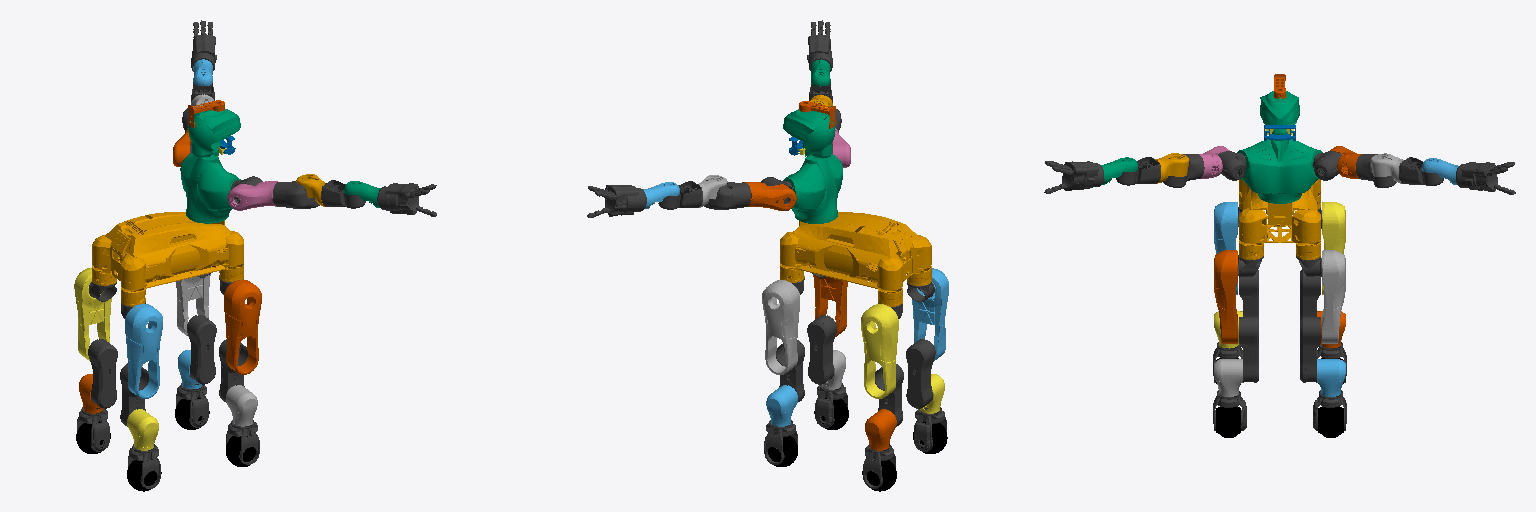
--- Render facts (derived) ---
3 views of the same robot in one strip: view 1: azimuth 30°, elevation 25°; view 2: azimuth 150°, elevation 25°; view 3: azimuth 270°, elevation 25° (orthographic).
Robot: centauro — 54 links, 53 joints (39 revolute, 5 continuous, 9 fixed); root link pelvis; default pose: joints at zero except 2 at the middle of their limits (j_arm1_2 = -1.74, j_arm2_2 = 1.74).
Links seen in each view (by area): view 1: pelvis, torso_2, hip2_4, hip2_2, hip2_3, knee_3, knee_1, hip2_1, arm2_8, arm2_2, ankle1_4, ankle1_2 (+12 smaller); view 2: pelvis, torso_2, hip2_3, hip2_1, hip2_4, knee_4, knee_2, hip2_2, arm1_8, arm1_2, ankle1_1, ankle1_3 (+12 smaller); view 3: torso_2, pelvis, hip2_2, hip2_1, knee_1, knee_2, hip2_4, hip2_3, arm1_8, arm2_8, ankle1_2, ankle1_1 (+18 smaller).
Link boxes in pixels (x1,y1,x2,y2): pelvis: (92, 212, 243, 306); torso_2: (180, 109, 240, 223); hip2_4: (125, 304, 162, 398); hip2_2: (224, 280, 261, 374); hip2_3: (74, 268, 111, 360); knee_3: (88, 339, 117, 408); knee_1: (187, 315, 216, 384); hip2_1: (176, 274, 210, 336); arm2_8: (385, 183, 436, 216); arm2_2: (227, 181, 277, 210); ankle1_4: (127, 409, 158, 450); ankle1_2: (226, 385, 257, 426); pelvis: (780, 212, 931, 306); torso_2: (783, 109, 842, 223); hip2_3: (861, 304, 898, 398); hip2_1: (762, 280, 799, 374); hip2_4: (912, 268, 948, 360); knee_4: (906, 339, 935, 408); knee_2: (807, 315, 836, 384); hip2_2: (813, 275, 847, 336); arm1_8: (587, 185, 638, 217); arm1_2: (745, 182, 796, 210); ankle1_1: (766, 385, 797, 426); ankle1_3: (865, 409, 896, 450); torso_2: (1237, 91, 1322, 203); pelvis: (1239, 179, 1320, 259); hip2_2: (1214, 250, 1237, 343); hip2_1: (1322, 250, 1345, 343); knee_1: (1300, 317, 1320, 382); knee_2: (1239, 317, 1258, 382); hip2_4: (1214, 202, 1237, 294); hip2_3: (1322, 202, 1345, 294); arm1_8: (1461, 162, 1515, 194); arm2_8: (1044, 161, 1098, 193); ankle1_2: (1214, 359, 1242, 396); ankle1_1: (1317, 359, 1345, 396).
Size in the robot's own frame: 1.12 by 2.05 by 1.68 metres.
Meshes: 19 distinct files referenced, 45 mesh visuals loaded (19 binary STL).

robot.urdf — centauro:
<?xml version="1.0" ?>
<!-- =================================================================================== -->
<!-- |    This document was autogenerated by xacro from centauro.urdf.xacro            | -->
<!-- |    EDITING THIS FILE BY HAND IS NOT RECOMMENDED                                 | -->
<!-- =================================================================================== -->
<robot name="centauro" xmlns:xacro="http://www.ros.org/wiki/xacro">
  <!-- /constants -->
  <!-- Here all arguments from launch file are evaluated to the final xacro poropeties.
     Also all the parameter dependencies are resolved-->
  <!-- Here all arguments from launch file are evaluated to the final xacro poropeties.
     Also all the parameter dependencies are resolved-->
  <!-- Here all arguments from launch file are evaluated to the final xacro poropeties.
     Also all the parameter dependencies are resolved-->
  <!-- Here all arguments from launch file are evaluated to the final xacro poropeties.
     Also all the parameter dependencies are resolved-->
  <gazebo reference="j_ft_1">
    <sensor name="left_arm_ft" type="force_torque">
      <force_torque>
        <frame>parent</frame>
        <measure_direction>child_to_parent</measure_direction>
      </force_torque>
      <always_on>true</always_on>
      <visualize>true</visualize>
      <update_rate>1000</update_rate>
      <pose>0 0 0 0 0 0</pose>
    </sensor>
  </gazebo>
  <gazebo reference="j_ft_2">
    <sensor name="right_arm_ft" type="force_torque">
      <force_torque>
        <frame>parent</frame>
        <measure_direction>child_to_parent</measure_direction>
      </force_torque>
      <always_on>true</always_on>
      <visualize>true</visualize>
      <update_rate>1000</update_rate>
      <pose>0 0 0 0 0 0</pose>
    </sensor>
  </gazebo>
  <gazebo reference="j_wheel_1">
    <sensor name="fl_foot_ft" type="force_torque">
      <force_torque>
        <frame>parent</frame>
        <measure_direction>child_to_parent</measure_direction>
      </force_torque>
      <always_on>true</always_on>
      <visualize>true</visualize>
      <update_rate>1000</update_rate>
      <pose>0 0 0 0 0 0</pose>
    </sensor>
  </gazebo>
  <gazebo reference="j_wheel_2">
    <sensor name="fr_foot_ft" type="force_torque">
      <force_torque>
        <frame>parent</frame>
        <measure_direction>child_to_parent</measure_direction>
      </force_torque>
      <always_on>true</always_on>
      <visualize>true</visualize>
      <update_rate>1000</update_rate>
      <pose>0 0 0 0 0 0</pose>
    </sensor>
  </gazebo>
  <gazebo reference="j_wheel_4">
    <sensor name="hr_foot_ft" type="force_torque">
      <force_torque>
        <frame>parent</frame>
        <measure_direction>child_to_parent</measure_direction>
      </force_torque>
      <always_on>true</always_on>
      <visualize>true</visualize>
      <update_rate>1000</update_rate>
      <pose>0 0 0 0 0 0</pose>
    </sensor>
  </gazebo>
  <gazebo reference="j_wheel_3">
    <sensor name="hl_foot_ft" type="force_torque">
      <force_torque>
        <frame>parent</frame>
        <measure_direction>child_to_parent</measure_direction>
      </force_torque>
      <always_on>true</always_on>
      <visualize>true</visualize>
      <update_rate>1000</update_rate>
      <pose>0 0 0 0 0 0</pose>
    </sensor>
  </gazebo>
  <gazebo reference="wheel_1">
    <sensor name="wheel_1_contact_sensor_1" type="contact">
      <always_on>true</always_on>
      <update_rate>1000.0</update_rate>
      <contact>
        <collision>wheel_1_collision_1</collision>
      </contact>
      <plugin filename="libgazebo_ros_bumper.so" name="wheel_1_bumper">
        <bumperTopicName>centauro/contacts_wheel_1</bumperTopicName>
        <frameName>wheel_1</frameName>
      </plugin>
    </sensor>
  </gazebo>
  <gazebo reference="wheel_2">
    <sensor name="wheel_2_contact_sensor_1" type="contact">
      <always_on>true</always_on>
      <update_rate>1000.0</update_rate>
      <contact>
        <collision>wheel_2_collision_1</collision>
      </contact>
      <plugin filename="libgazebo_ros_bumper.so" name="wheel_2_bumper">
        <bumperTopicName>centauro/contacts_wheel_2</bumperTopicName>
        <frameName>wheel_2</frameName>
      </plugin>
    </sensor>
  </gazebo>
  <gazebo reference="wheel_3">
    <sensor name="wheel_3_contact_sensor_1" type="contact">
      <always_on>true</always_on>
      <update_rate>1000.0</update_rate>
      <contact>
        <collision>wheel_3_collision_1</collision>
      </contact>
      <plugin filename="libgazebo_ros_bumper.so" name="wheel_3_bumper">
        <bumperTopicName>centauro/contacts_wheel_3</bumperTopicName>
        <frameName>wheel_3</frameName>
      </plugin>
    </sensor>
  </gazebo>
  <gazebo reference="wheel_4">
    <sensor name="wheel_4_contact_sensor_1" type="contact">
      <always_on>true</always_on>
      <update_rate>1000.0</update_rate>
      <contact>
        <collision>wheel_4_collision_1</collision>
      </contact>
      <plugin filename="libgazebo_ros_bumper.so" name="wheel_4_bumper">
        <bumperTopicName>centauro/contacts_wheel_4</bumperTopicName>
        <frameName>wheel_4</frameName>
      </plugin>
    </sensor>
  </gazebo>
  <!-- Here all arguments from launch file are evaluated to the final xacro poropeties.
     Also all the parameter dependencies are resolved-->
  <gazebo reference="imu_link">
    <sensor name="imu_link" type="imu">
      <always_on>1</always_on>
      <update_rate>500</update_rate>
      <visualize>true</visualize>
      <topic>__default_topic__</topic>
      <imu>
        <!--
                <noise>
                <type>gaussian</type>
                <rate>
                    <mean>0.0</mean>
                    <stddev>2e-4</stddev>
                    <bias_mean>0.0000075</bias_mean>
                    <bias_stddev>0.0000008</bias_stddev>
                </rate>
                <accel>
                    <mean>0.0</mean>
                    <stddev>1.7e-2</stddev>
                    <bias_mean>0.1</bias_mean>
                    <bias_stddev>0.001</bias_stddev>
                </accel>
                </noise>
                -->
      </imu>
    </sensor>
  </gazebo>
  <gazebo>
    <plugin filename="libGazeboXBotPlugin.so" name="gazebo_xbot_plugin">
      <path_to_config_file>configs/ADVR_shared/centauro/configs/config_centauro.yaml</path_to_config_file>
      <!--                <path_to_config_file>configs/ADVR_shared/centauro/configs/config_centauro.yaml</path_to_config_file> -->
    </plugin>
  </gazebo>
  <!-- /CONTROLLER -->
  <!-- VISUALiZATION AND FRICTION -->
  <gazebo reference="base_link">
    <material>Gazebo/Red</material>
  </gazebo>
  <gazebo reference="pelvis">
    <material>Gazebo/OrangeTransparent</material>
    <mu1>0</mu1>
    <mu2>0</mu2>
  </gazebo>
  <gazebo reference="torso_2">
    <material>Gazebo/OrangeTransparent</material>
    <mu1>0</mu1>
    <mu2>0</mu2>
  </gazebo>
  <gazebo reference="hip1_1">
    <material>Gazebo/Lane_1</material>
    <mu1>0</mu1>
    <mu2>0</mu2>
  </gazebo>
  <gazebo reference="hip1_2">
    <material>Gazebo/Lane_1 </material>
    <mu1>0</mu1>
    <mu2>0</mu2>
  </gazebo>
  <gazebo reference="hip1_3">
    <material>Gazebo/Lane_1</material>
    <mu1>0</mu1>
    <mu2>0</mu2>
  </gazebo>
  <gazebo reference="hip1_4">
    <material>Gazebo/Lane_1</material>
    <mu1>0</mu1>
    <mu2>0</mu2>
  </gazebo>
  <gazebo reference="hip2_1">
    <material>Gazebo/OrangeTransparent </material>
    <mu1>0</mu1>
    <mu2>0</mu2>
  </gazebo>
  <gazebo reference="hip2_2">
    <material>Gazebo/OrangeTransparent</material>
    <mu1>0</mu1>
    <mu2>0</mu2>
  </gazebo>
  <gazebo reference="hip2_3">
    <material>Gazebo/OrangeTransparent </material>
    <mu1>0</mu1>
    <mu2>0</mu2>
  </gazebo>
  <gazebo reference="hip2_4">
    <material>Gazebo/OrangeTransparent </material>
    <mu1>0</mu1>
    <mu2>0</mu2>
  </gazebo>
  <gazebo reference="knee_1">
    <material>Gazebo/Lane_1 </material>
    <mu1>0</mu1>
    <mu2>0</mu2>
  </gazebo>
  <gazebo reference="knee_2">
    <material>Gazebo/Lane_1 </material>
    <mu1>0</mu1>
    <mu2>0</mu2>
  </gazebo>
  <gazebo reference="knee_3">
    <material>Gazebo/Lane_1 </material>
    <mu1>0</mu1>
    <mu2>0</mu2>
  </gazebo>
  <gazebo reference="knee_4">
    <material>Gazebo/Lane_1 </material>
    <mu1>0</mu1>
    <mu2>0</mu2>
  </gazebo>
  <gazebo reference="ankle1_1">
    <material>Gazebo/OrangeTransparent</material>
    <mu1>0</mu1>
    <mu2>0</mu2>
  </gazebo>
  <gazebo reference="ankle1_2">
    <material>Gazebo/OrangeTransparent  </material>
    <mu1>0</mu1>
    <mu2>0</mu2>
  </gazebo>
  <gazebo reference="ankle1_3">
    <material>Gazebo/OrangeTransparent </material>
    <mu1>0</mu1>
    <mu2>0</mu2>
  </gazebo>
  <gazebo reference="ankle1_4">
    <material>Gazebo/OrangeTransparent  </material>
    <mu1>0</mu1>
    <mu2>0</mu2>
  </gazebo>
  <gazebo reference="ankle2_1">
    <material> Gazebo/Lane_1 </material>
    <mu1>0</mu1>
    <mu2>0</mu2>
  </gazebo>
  <gazebo reference="ankle2_2">
    <material>Gazebo/Lane_1 </material>
    <mu1>0</mu1>
    <mu2>0</mu2>
  </gazebo>
  <gazebo reference="ankle2_3">
    <material>Gazebo/Lane_1</material>
    <mu1>0</mu1>
    <mu2>0</mu2>
  </gazebo>
  <gazebo reference="ankle2_4">
    <material>Gazebo/Lane_1</material>
    <mu1>0</mu1>
    <mu2>0</mu2>
  </gazebo>
  <gazebo reference="wheel_1">
    <material>Gazebo/Residential </material>
    <collision>
      <surface>
        <friction>
          <!--                                        <torsional>
                                                <coefficient> 0.5 </coefficient>
                                                <use_patch_radius>true</use_patch_radius>
                                                <patch_radius>0.2</patch_radius>
                                        </torsional>-->
          <ode>
            <mu>0.5</mu>
            <mu2>0.5</mu2>
          </ode>
          <bullet>
            <friction>0.5</friction>
            <friction2>0.5</friction2>
          </bullet>
        </friction>
        <contact>
          <ode>
            <!--<soft_cfm>0.0001</soft_cfm>
                                        <soft_erp>0.25</soft_erp> -->
            <kp>2100000</kp>
            <kd>1</kd>
            <max_vel>100</max_vel>
          </ode>
          <bullet>
            <soft_cfm>0.007</soft_cfm>
            <soft_erp>0.25</soft_erp>
            <kp>1000000</kp>
            <kd>5</kd>
            <split_impulse>0.01</split_impulse>
          </bullet>
        </contact>
      </surface>
    </collision>
  </gazebo>
  <gazebo reference="wheel_2">
    <material>Gazebo/Residential</material>
    <collision>
      <surface>
        <friction>
          <!--                                        <torsional>
                                                <coefficient> 0.5 </coefficient>
                                                <use_patch_radius>true</use_patch_radius>
                                                <patch_radius>0.2</patch_radius>
                                        </torsional>-->
          <ode>
            <mu>0.5</mu>
            <mu2>0.5</mu2>
          </ode>
          <bullet>
            <friction>0.5</friction>
            <friction2>0.5</friction2>
          </bullet>
        </friction>
        <contact>
          <ode>
            <!--<soft_cfm>0.0001</soft_cfm>
                                        <soft_erp>0.25</soft_erp> -->
            <kp>2100000</kp>
            <kd>1</kd>
            <max_vel>100</max_vel>
          </ode>
          <bullet>
            <soft_cfm>0.007</soft_cfm>
            <soft_erp>0.25</soft_erp>
            <kp>1000000</kp>
            <kd>5</kd>
            <split_impulse>0.01</split_impulse>
          </bullet>
        </contact>
      </surface>
    </collision>
  </gazebo>
  <gazebo reference="wheel_3">
    <material>Gazebo/Residential </material>
    <collision>
      <surface>
        <friction>
          <!--                                        <torsional>
                                                <coefficient> 0.5 </coefficient>
                                                <use_patch_radius>true</use_patch_radius>
                                                <patch_radius>0.2</patch_radius>
                                        </torsional>-->
          <ode>
            <mu>0.5</mu>
            <mu2>0.5</mu2>
          </ode>
          <bullet>
            <friction>0.5</friction>
            <friction2>0.5</friction2>
          </bullet>
        </friction>
        <contact>
          <ode>
            <!--<soft_cfm>0.0001</soft_cfm>
                                        <soft_erp>0.25</soft_erp> -->
            <kp>2100000</kp>
            <kd>1</kd>
            <max_vel>100</max_vel>
          </ode>
          <bullet>
            <soft_cfm>0.007</soft_cfm>
            <soft_erp>0.25</soft_erp>
            <kp>1000000</kp>
            <kd>5</kd>
            <split_impulse>0.01</split_impulse>
          </bullet>
        </contact>
      </surface>
    </collision>
  </gazebo>
  <gazebo reference="wheel_4">
    <material>Gazebo/Residential</material>
    <collision>
      <surface>
        <friction>
          <!--                                        <torsional>
                                                <coefficient> 0.5 </coefficient>
                                                <use_patch_radius>true</use_patch_radius>
                                                <patch_radius>0.2</patch_radius>
                                        </torsional>-->
          <ode>
            <mu>0.5</mu>
            <mu2>0.5</mu2>
          </ode>
          <bullet>
            <friction>0.5</friction>
            <friction2>0.5</friction2>
          </bullet>
        </friction>
        <contact>
          <ode>
            <!--<soft_cfm>0.0001</soft_cfm>
                                        <soft_erp>0.25</soft_erp> -->
            <kp>2100000</kp>
            <kd>1</kd>
            <max_vel>100</max_vel>
          </ode>
          <bullet>
            <soft_cfm>0.007</soft_cfm>
            <soft_erp>0.25</soft_erp>
            <kp>1000000</kp>
            <kd>5</kd>
            <split_impulse>0.01</split_impulse>
          </bullet>
        </contact>
      </surface>
    </collision>
  </gazebo>
  <gazebo reference="arm1_1">
    <material>Gazebo/Lane_1 </material>
    <mu1>0</mu1>
    <mu2>0</mu2>
  </gazebo>
  <gazebo reference="arm2_1">
    <material>Gazebo/Lane_1 </material>
    <mu1>0</mu1>
    <mu2>0</mu2>
  </gazebo>
  <gazebo reference="arm1_2">
    <material>Gazebo/OrangeTransparent </material>
    <mu1>0</mu1>
    <mu2>0</mu2>
  </gazebo>
  <gazebo reference="arm2_2">
    <material>Gazebo/OrangeTransparent</material>
    <mu1>0</mu1>
    <mu2>0</mu2>
  </gazebo>
  <gazebo reference="arm1_3">
    <material>Gazebo/Lane_1 </material>
    <mu1>0</mu1>
    <mu2>0</mu2>
  </gazebo>
  <gazebo reference="arm2_3">
    <material>Gazebo/Lane_1 </material>
    <mu1>0</mu1>
    <mu2>0</mu2>
  </gazebo>
  <gazebo reference="arm1_4">
    <material>Gazebo/OrangeTransparent </material>
    <mu1>0</mu1>
    <mu2>0</mu2>
  </gazebo>
  <gazebo reference="arm2_4">
    <material>Gazebo/OrangeTransparent </material>
    <mu1>0</mu1>
    <mu2>0</mu2>
  </gazebo>
  <gazebo reference="arm1_5">
    <material>Gazebo/Lane_1 </material>
    <mu1>0</mu1>
    <mu2>0</mu2>
  </gazebo>
  <gazebo reference="arm2_5">
    <material>Gazebo/Lane_1 </material>
    <mu1>0</mu1>
    <mu2>0</mu2>
  </gazebo>
  <gazebo reference="arm1_6">
    <material>Gazebo/OrangeTransparent </material>
    <mu1>0</mu1>
    <mu2>0</mu2>
  </gazebo>
  <gazebo reference="arm2_6">
    <material>Gazebo/OrangeTransparent </material>
    <mu1>0</mu1>
    <mu2>0</mu2>
  </gazebo>
  <gazebo reference="arm1_7">
    <material>Gazebo/Lane_1 </material>
    <mu1>0</mu1>
    <mu2>0</mu2>
  </gazebo>
  <gazebo reference="arm2_7">
    <material>Gazebo/Lane_1 </material>
    <mu1>0</mu1>
    <mu2>0</mu2>
  </gazebo>
  <gazebo reference="arm1_8">
    <material>Gazebo/OrangeTransparent </material>
    <mu1>0</mu1>
    <mu2>0</mu2>
  </gazebo>
  <gazebo reference="arm2_8">
    <material>Gazebo/OrangeTransparent </material>
    <mu1>0</mu1>
    <mu2>0</mu2>
  </gazebo>
  <material name="grey">
    <color rgba="0.5 0.5 0.5 1"/>
  </material>
  <material name="dark_grey">
    <color rgba="0.3 0.3 0.3 1"/>
  </material>
  <material name="blue">
    <color rgba="0.0 0.2 0.3 1"/>
  </material>
  <material name="red">
    <color rgba="0.5 0.1 0.2 1"/>
  </material>
  <material name="black">
    <color rgba="0.0 0.0 0.0 1"/>
  </material>
  <!-- Here all arguments from launch file are evaluated to the final xacro poropeties.
     Also all the parameter dependencies are resolved-->
  <!-- load proper collision model -->
  <!-- load proper collision model -->
  <!-- load proper collision model -->
  <!-- load proper collision model -->
  <!-- load proper collision model -->
  <!-- Here all arguments from launch file are evaluated to the final xacro poropeties.
     Also all the parameter dependencies are resolved-->
  <!-- load proper collision model -->
  <!-- load proper collision model -->
  <!-- load proper collision model -->
  <!-- load proper collision model -->
  <!-- load proper collision model -->
  <!-- /macro legs -->
  <!-- /macro arms -->
  <!-- /other files -->
  <!-- reference -->
  <!-- <link name="base_link"/>

<joint name="base_joint" type="fixed">
   <origin xyz="0 0 0"/>
   <parent link="base_link"/>
   <child link="world"/>
</joint>
-->
  <!--link name="world"/-->
  <link name="pelvis">
    <inertial>
      <origin xyz="-0.013541342 -0.0029098264 0.01400721"/>
      <mass value="24.190945"/>
      <inertia ixx="0.20021119" ixy="-0.0038421093" ixz="-0.033298849" iyy="0.51136214" iyz="0.004469847" izz="0.54401411"/>
    </inertial>
    <visual>
      <origin rpy="0.0 0.0 0.0" xyz="0.0 0 0.0"/>
      <geometry>
        <mesh filename="meshes/simplified/pelvis.stl" scale="0.001 0.001 0.001"/>
      </geometry>
    </visual>
    <collision>
      <origin rpy="0.0 0.0 0.0" xyz="0.0 0 0.0"/>
      <geometry>
        <mesh filename="meshes/convex_hull/pelvis.stl" scale="0.001 0.001 0.001"/>
      </geometry>
    </collision>
  </link>
  <link name="imu_link">
    <inertial>
      <mass value="0.0"/>
      <inertia ixx="0.0" ixy="0.0" ixz="0.0" iyy="0.0" iyz="0.0" izz="0.0"/>
    </inertial>
  </link>
  <joint name="imu_joint" type="fixed">
    <parent link="pelvis"/>
    <origin rpy="0.0 0.0 0.0" xyz="0.0 0.0 0.0"/>
    <child link="imu_link"/>
  </joint>
  <!--joint name="reference" type="floating">
    <origin xyz="0.0 0.0 0.93445"/>
    <parent link="world"/>
    <child link="pelvis"/>
  </joint-->
  <!-- /reference  -->
  <!-- torso links -->
  <link name="torso_2">
    <inertial>
      <origin xyz="0.0064454169 0.0021390093 0.14302095"/>
      <mass value="6.1886404"/>
      <inertia ixx="0.063643392" ixy="8.939e-05" ixz="-0.00086873" iyy="0.02680235" iyz="-4.657e-05" izz="0.04743015"/>
    </inertial>
    <visual>
      <origin rpy="0.0 0.0 0.0" xyz="0.0 0 0.0"/>
      <geometry>
        <mesh filename="meshes/simplified/link1.stl" scale="0.001 0.001 0.001"/>
      </geometry>
    </visual>
    <collision>
      <origin rpy="0.0 0.0 0.0" xyz="0.0 0 0.0"/>
      <geometry>
        <mesh filename="meshes/convex_hull/link1.stl" scale="0.001 0.001 0.001"/>
      </geometry>
    </collision>
  </link>
  <!-- /torso links -->
  <!-- torso joints -->
  <joint name="torso_yaw" type="revolute">
    <parent link="pelvis"/>
    <origin xyz="0.2 0.0 0.256"/>
    <child link="torso_2"/>
    <axis xyz="0 0 1"/>
    <limit effort="147" lower="-2.618" upper="2.618" velocity="5.7"/>
    <!-- TODO -->
  </joint>
  <!-- /torso joints -->
  <transmission name="t_torso_yaw">
    <type> transmission_interface/SimpleTransmission</type>
    <joint name="torso_yaw">
      <hardwareInterface>hardware_interface/EffortJointInterface</hardwareInterface>
    </joint>
    <actuator name="motor_torso_yaw">
      <hardwareInterface>hardware_interface/EffortJointInterface</hardwareInterface>
      <machanicalReduction>1</machanicalReduction>
    </actuator>
    <robotNamespace>/centauro</robotNamespace>
  </transmission>
  <!-- /torso actuators -->
  <!-- head links -->
  <link name="neck_1">
    <inertial>
      <origin xyz="0.040479674 0.021377573 -0.014595112"/>
      <mass value="0.33878686"/>
      <inertia ixx="0.0003718568" ixy="-9.42983e-05" ixz="-2.80644e-05" iyy="0.0001886879" iyz="-1.54534e-05" izz="0.0005023443"/>
    </inertial>
    <visual>
      <origin rpy="0.0 0.0 0.0" xyz="0.0 0 0.0"/>
      <geometry>
        <mesh filename="meshes/simplified/neck_yaw.stl" scale="0.001 0.001 0.001"/>
      </geometry>
    </visual>
    <collision>
      <origin rpy="0.0 0.0 0.0" xyz="0.0 0 0.0"/>
      <geometry>
        <mesh filename="meshes/convex_hull/neck_yaw.stl" scale="0.001 0.001 0.001"/>
      </geometry>
    </collision>
  </link>
  <link name="neck_2">
    <inertial>
      <origin xyz="0.048466918 -0.059852318 -0.0085314894"/>
      <mass value="0.78526942"/>
      <inertia ixx="0.0004682345" ixy="-1.05438e-05" ixz="7.24398e-05" iyy="0.0002635246" iyz="1.6904e-06" izz="0.0003763351"/>
    </inertial>
    <visual>
      <origin rpy="0.0 0.0 0.0" xyz="0.0 0 0.0"/>
      <geometry>
        <mesh filename="meshes/simplified/neck_pitch.stl" scale="0.001 0.001 0.001"/>
      </geometry>
    </visual>
    <collision>
      <origin rpy="0.0 0.0 0.0" xyz="0.0 0 0.0"/>
      <geometry>
        <mesh filename="meshes/convex_hull/neck_pitch.stl" scale="0.001 0.001 0.001"/>
      </geometry>
    </collision>
  </link>
  <link name="neck_3">
    <inertial>
      <origin xyz="0.048466918 -0.059852318 -0.0085314894"/>
      <mass value="0.78526942"/>
      <inertia ixx="0.0004682345" ixy="-1.05438e-05" ixz="7.24398e-05" iyy="0.0002635246" iyz="1.6904e-06" izz="0.0003763351"/>
    </inertial>
    <visual>
      <origin rpy="0.0 0.0 0.0" xyz="0.0 0 0.0"/>
      <geometry>
        <mesh filename="meshes/simplified/velodyne.stl" scale="0.001 0.001 0.001"/>
      </geometry>
    </visual>
    <collision>
      <origin rpy="0.0 0.0 0.0" xyz="0.0 0 0.0"/>
      <geometry>
        <mesh filename="meshes/convex_hull/velodyne.stl" scale="0.001 0.001 0.001"/>
      </geometry>
    </collision>
  </link>
  <!-- /head links -->
  <!-- sensors links -->
  <link name="camera_central">
    <inertial>
      <origin xyz="0.0 0.0 0.0"/>
      <mass value="0.1"/>
      <inertia ixx="1e-06" ixy="0.0" ixz="0.0" iyy="1e-06" iyz="0.0" izz="1e-06"/>
    </inertial>
  </link>
  <link name="camera_left">
    <inertial>
      <origin xyz="0.0 0.0 0.0"/>
      <mass value="0.1"/>
      <inertia ixx="1e-06" ixy="0.0" ixz="0.0" iyy="1e-06" iyz="0.0" izz="1e-06"/>
    </inertial>
  </link>
  <link name="camera_right">
    <inertial>
      <origin xyz="0.0 0.0 0.0"/>
      <mass value="0.1"/>
      <inertia ixx="1e-06" ixy="0.0" ixz="0.0" iyy="1e-06" iyz="0.0" izz="1e-06"/>
    </inertial>
  </link>
  <link name="kinect">
    <inertial>
      <origin xyz="0.0 0.0 0.0"/>
      <mass value="0.1"/>
      <inertia ixx="1e-06" ixy="0.0" ixz="0.0" iyy="1e-06" iyz="0.0" izz="1e-06"/>
    </inertial>
  </link>
  <link name="kinect2_rgb_optical_frame">
    <inertial>
      <origin rpy="0 0 0" xyz="0 0 0"/>
      <mass value="0"/>
      <inertia ixx="0.0" ixy="0.0" ixz="0.0" iyy="0.0" iyz="0.0" izz="0.0"/>
    </inertial>
  </link> <!-- in pybullet, the inertia need to be specified even for dummy links, otherwise it will put an identity inertia and a mass of 1 by default -->
  <link name="velodyne_mount">
    <inertial>
      <origin xyz="0.0 0.0 0.0"/>
      <mass value="0.1"/>
      <inertia ixx="1e-06" ixy="0.0" ixz="0.0" iyy="1e-06" iyz="0.0" izz="1e-06"/>
    </inertial>
  </link>
  <!-- /sensors links -->
  <!-- head joints -->
  <joint name="neck_yaw" type="revolute">
    <parent link="torso_2"/>
    <origin xyz="0.0 0.0 0.2795"/>
    <child link="neck_1"/>
    <axis xyz="0 0 1"/>
    <limit effort="35" lower="-0.78539816" upper="0.78539816" velocity="5.7"/>
    <!-- TODO -->
  </joint>
  <joint name="neck_pitch" type="revolute">
    <parent link="neck_1"/>
    <origin xyz="0.054 0.0596 -0.0124975"/>
    <child link="neck_2"/>
    <axis xyz="0 1 0"/>
    <limit effort="35" lower="-0.34906585" upper="0.78539816" velocity="5.7"/>
    <!-- TODO -->
  </joint>
  <joint name="neck_velodyne" type="continuous">
    <parent link="torso_2"/>
    <origin xyz="0.055 0.0 0.473262"/>
    <child link="neck_3"/>
    <axis xyz="0 0 1"/>
    <limit effort="35" velocity="5.7"/>
    <!-- TODO -->
  </joint>
  <!-- /head joints -->
  <!-- sensors transformations  -->
  <joint name="j_camera_central" type="fixed">
    <parent link="torso_2"/>
    <origin rpy="0.0 0.349065586018 0.0" xyz="0.0559593 5e-12 0.390626"/>
    <child link="camera_central"/>
  </joint>
  <joint name="j_camera_left" type="fixed">
    <parent link="torso_2"/>
    <origin rpy="0.0 0.349065586018 1.2217302006" xyz="0.0191392 0.0525845 0.390626"/>
    <child link="camera_left"/>
  </joint>
  <joint name="j_camera_right" type="fixed">
    <parent link="torso_2"/>
    <origin rpy="0.0 0.349065586018 -1.2217302006" xyz="0.0191392 -0.0525845 0.390626"/>
    <child link="camera_right"/>
  </joint>
  <joint name="j_kinect" type="fixed">
    <parent link="neck_2"/>
    <origin rpy="0.0 0.0 0.0" xyz="0.03 -0.0596 0.045855"/>
    <child link="kinect"/>
  </joint>
  <joint name="j_kinect_optical_frame" type="fixed">
    <parent link="kinect"/>
    <child link="kinect2_rgb_optical_frame"/>
    <origin rpy=" -1.5707963268 0 -1.5707963268" xyz="0.050 -0.110 -0.035"/>
  </joint>
  <joint name="j_velodyne" type="fixed">
    <parent link="neck_3"/>
    <origin rpy="0.0 0.0 -3.14159265359" xyz="-0.138 0.0 -0.033"/>
    <child link="velodyne_mount"/>
  </joint>
  <!-- /sensors transformations -->
  <transmission name="t_neck_yaw">
    <type> transmission_interface/SimpleTransmission</type>
    <joint name="neck_yaw">
      <hardwareInterface>hardware_interface/EffortJointInterface</hardwareInterface>
    </joint>
    <actuator name="motor_neck_yaw">
      <hardwareInterface>hardware_interface/EffortJointInterface</hardwareInterface>
      <machanicalReduction>1</machanicalReduction>
    </actuator>
    <robotNamespace>/centauro</robotNamespace>
  </transmission>
  <transmission name="t_neck_pitch">
    <type> transmission_interface/SimpleTransmission</type>
    <joint name="neck_pitch">
      <hardwareInterface>hardware_interface/EffortJointInterface</hardwareInterface>
    </joint>
    <actuator name="motor_neck_pitch">
      <hardwareInterface>hardware_interface/EffortJointInterface</hardwareInterface>
      <machanicalReduction>1</machanicalReduction>
    </actuator>
    <robotNamespace>/centauro</robotNamespace>
  </transmission>
  <transmission name="t_neck_velodyne">
    <type> transmission_interface/SimpleTransmission</type>
    <joint name="neck_velodyne">
      <hardwareInterface>hardware_interface/EffortJointInterface</hardwareInterface>
    </joint>
    <actuator name="motor_neck_velodyne">
      <hardwareInterface>hardware_interface/EffortJointInterface</hardwareInterface>
      <machanicalReduction>1</machanicalReduction>
    </actuator>
    <robotNamespace>/centauro</robotNamespace>
  </transmission>
  <!-- /torso actuators -->
  <!-- /torso -->
  <!-- LINKS -->
  <!-- shoulder yaw-roll-->
  <link name="arm1_1">
    <inertial>
      <origin xyz="-0.0031005886 0.040324584 0.007451937"/>
      <mass value="1.5583338"/>
      <inertia ixx="0.0032318636" ixy="4.24587e-05" ixz="4.91626e-05" iyy="0.00275718" iyz="-0.0002387056" izz="0.004275047"/>
    </inertial>
    <visual>
      <origin rpy="0.0 0.0 0.0" xyz="0.0 0.0 0.0"/>
      <geometry>
        <mesh filename="meshes/simplified/link2.stl" scale="0.001 -0.001 0.001"/>
      </geometry>
      <material name="dark_grey"/>
    </visual>
    <collision>
      <origin rpy="0.0 0.0 0.0" xyz="0.0 0.0 0.0"/>
      <geometry>
        <mesh filename="meshes/convex_hull/link2.stl" scale="0.001 -0.001 0.001"/>
      </geometry>
    </collision>
  </link>
  <!-- shoulder yaw-roll-->
  <!-- shoulder roll-pitch-->
  <link name="arm1_2">
    <inertial>
      <origin xyz="0.05105435 0.00011109 -0.07643596"/>
      <mass value="1.515061"/>
      <inertia ixx="0.01029558" ixy="2.846e-05" ixz="0.0036567" iyy="0.01178018" iyz="2.088e-05" izz="0.00386123"/>
    </inertial>
    <visual>
      <origin rpy="0.0 0.0 0.0" xyz="0.0 0.0 0.0"/>
      <geometry>
        <mesh filename="meshes/simplified/link3.stl" scale="0.001 -0.001 0.001"/>
      </geometry>
    </visual>
    <collision>
      <origin rpy="0.0 0.0 0.0" xyz="0.0 0.0 0.0"/>
      <geometry>
        <mesh filename="meshes/convex_hull/link3.stl" scale="0.001 -0.001 0.001"/>
      </geometry>
    </collision>
  </link>
  <!-- shoulder roll-pitch-->
  <!-- shoulder-elbow -->
  <link name="arm1_3">
    <inertial>
      <origin xyz="0.01207624 0.00322013 -0.03427312"/>
      <mass value="1.5088101"/>
      <inertia ixx="0.00469819" ixy="-0.00026547" ixz="0.00077706" iyy="0.00501755" iyz="0.00029679" izz="0.00310954"/>
    </inertial>
    <visual>
      <origin rpy="0.0 0.0 0.0" xyz="0.0 0.0 0.0"/>
      <geometry>
        <mesh filename="meshes/simplified/link4.stl" scale="0.001 -0.001 0.001"/>
      </geometry>
      <material name="dark_grey"/>
    </visual>
    <collision>
      <origin rpy="0.0 0.0 0.0" xyz="0.0 0.0 0.0"/>
      <geometry>
        <mesh filename="meshes/convex_hull/link4.stl" scale="0.001 -0.001 0.001"/>
      </geometry>
    </collision>
  </link>
  <!-- /shoulder-elbow -->
  <!-- elbow yaw-pitch -->
  <link name="arm1_4">
    <inertial>
      <origin xyz="0.010147552 -0.029928537 -0.032528288"/>
      <mass value="0.96297329"/>
      <inertia ixx="0.0026493567" ixy="5.1632e-06" ixz="0.0001292309" iyy="0.0023470955" iyz="-0.0007895755" izz="0.0012213063"/>
    </inertial>
    <visual>
      <origin rpy="0.0 0.0 0.0" xyz="0.0 0.0 0.0"/>
      <geometry>
        <mesh filename="meshes/simplified/link5.stl" scale="0.001 -0.001 0.001"/>
      </geometry>
    </visual>
    <collision>
      <origin rpy="0.0 0.0 0.0" xyz="0.0 0.0 0.0"/>
      <geometry>
        <mesh filename="meshes/convex_hull/link5.stl" scale="0.001 -0.001 0.001"/>
      </geometry>
    </collision>
  </link>
  <!-- /elbow yaw-pitch -->
  <!-- elbow-wrist -->
  <link name="arm1_5">
    <inertial>
      <origin xyz="-0.0001574443 0.0041320907 -0.10756614"/>
      <mass value="1.4703698"/>
      <inertia ixx="0.0064160453" ixy="1.96382e-05" ixz="2.49912e-05" iyy="0.0062016367" iyz="-0.0001987903" izz="0.0017091658"/>
    </inertial>
    <visual>
      <origin rpy="0.0 0.0 0.0" xyz="0.0 0.0 0.0"/>
      <geometry>
        <mesh filename="meshes/simplified/link6.stl" scale="0.001 -0.001 0.001"/>
      </geometry>
      <material name="dark_grey"/>
    </visual>
    <collision>
      <origin rpy="0.0 0.0 0.0" xyz="0.0 0.0 0.0"/>
      <geometry>
        <mesh filename="meshes/convex_hull/link6.stl" scale="0.001 -0.001 0.001"/>
      </geometry>
    </collision>
  </link>
  <!-- /elbow-wrist -->
  <!-- wrist yaw-pitch -->
  <link name="arm1_6">
    <inertial>
      <origin xyz="3.23645e-05 -0.035947237 -0.080878061"/>
      <mass value="0.94693868"/>
      <inertia ixx="0.0036896582" ixy="2.63667e-05" ixz="1.4005e-06" iyy="0.0034146283" iyz="-0.0008268103" izz="0.0010790183"/>
    </inertial>
    <visual>
      <origin rpy="0.0 0.0 0.0" xyz="0.0 0.0 0.0"/>
      <geometry>
        <mesh filename="meshes/simplified/link7.stl" scale="0.001 -0.001 0.001"/>
      </geometry>
    </visual>
    <collision>
      <origin rpy="0.0 0.0 0.0" xyz="0.0 0.0 0.0"/>
      <geometry>
        <mesh filename="meshes/convex_hull/link7.stl" scale="0.001 -0.001 0.001"/>
      </geometry>
    </collision>
  </link>
  <!-- /wrist yaw-pitch -->
  <link name="arm1_7">
    <inertial>
      <origin xyz="2.46596e-05 -0.0001467705 -0.0052993013"/>
      <mass value="0.55981036"/>
      <inertia ixx="0.0004360175" ixy="1.397e-07" ixz="-1.382e-07" iyy="0.0004299166" iyz="-1.4752e-06" izz="0.0004522224"/>
    </inertial>
    <visual>
      <origin rpy="0.0 0.0 0.0" xyz="0.0 0.0 0.0"/>
      <geometry>
        <mesh filename="meshes/simplified/link8.stl" scale="0.001 -0.001 0.001"/>
      </geometry>
      <material name="dark_grey"/>
    </visual>
    <collision>
      <origin rpy="0.0 0.0 0.0" xyz="0.0 0.0 0.0"/>
      <geometry>
        <mesh filename="meshes/convex_hull/link8.stl" scale="0.001 -0.001 0.001"/>
      </geometry>
    </collision>
  </link>
  <!-- /LINKS -->
  <!-- JOINTS -->
  <!-- shoulder yaw -->
  <joint name="j_arm1_1" type="revolute">
    <parent link="torso_2"/>
    <child link="arm1_1"/>
    <origin rpy="0.0 0.0 -0.523602668986" xyz="0.04576 0.169137 0.116626"/>
    <axis xyz="0 0.984807753012 0.173648177667"/>
    <limit effort="147" lower="-3.348" upper="1.578" velocity="5.7"/>
  </joint>
  <!-- /shoulder yaw -->
  <!-- shoulder roll -->
  <joint name="j_arm1_2" type="revolute">
    <parent link="arm1_1"/>
    <child link="arm1_2"/>
    <origin xyz="-0.09115 0.06106 0.010766"/>
    <axis xyz="-1 0 0"/>
    <limit effort="147" lower="-3.42" upper="-0.056" velocity="5.7"/>
  </joint>
  <!-- /shoulder roll -->
  <!-- shoulder pitch-->
  <joint name="j_arm1_3" type="revolute">
    <parent link="arm1_2"/>
    <child link="arm1_3"/>
    <origin xyz="0.09115 0.0 -0.21915"/>
    <axis xyz="0 0 -1"/>
    <limit effort="147" lower="-2.5556" upper="2.5424" velocity="8.2"/>
  </joint>
  <!-- /shoulder pitch -->
  <!-- elbow yaw -->
  <joint name="j_arm1_4" type="revolute">
    <parent link="arm1_3"/>
    <child link="arm1_4"/>
    <origin xyz="0.04 0.05615 -0.074"/>
    <axis xyz="0 1 0"/>
    <limit effort="147" lower="-2.4636" upper="0.2804" velocity="8.2"/>
  </joint>
  <!-- /elbow yaw -->
  <!-- elbow pitch-->
  <joint name="j_arm1_5" type="revolute">
    <parent link="arm1_4"/>
    <child link="arm1_5"/>
    <origin xyz="-0.015 -0.05615 -0.061"/>
    <axis xyz="0 0 -1"/>
    <limit effort="55" lower="-2.5406" upper="2.5534" velocity="11.6"/>
  </joint>
  <!-- /elbow pitch-->
  <!-- wrist yaw-->
  <joint name="j_arm1_6" type="revolute">
    <parent link="arm1_5"/>
    <child link="arm1_6"/>
    <origin xyz="0.0 0.049 -0.18"/>
    <axis xyz="0 1 0"/>
    <limit effort="55" lower="-1.5096" upper="1.5044" velocity="11.6"/>
  </joint>
  <!-- /wrist yaw-->
  <!-- wrist pitch-->
  <joint name="j_arm1_7" type="revolute">
    <parent link="arm1_6"/>
    <child link="arm1_7"/>
    <origin xyz="0.0 -0.049 -0.169"/>
    <axis xyz="0 0 -1"/>
    <limit effort="27" lower="-2.5376" upper="2.5554" velocity="20.3"/>
  </joint>
  <!-- wrist pitch-->
  <!-- force-troque sensor -->
  <transmission name="t_j_arm1_1">
    <type> transmission_interface/SimpleTransmission</type>
    <joint name="j_arm1_1">
      <hardwareInterface>hardware_interface/EffortJointInterface</hardwareInterface>
    </joint>
    <actuator name="motor_j_arm1_1">
      <hardwareInterface>hardware_interface/EffortJointInterface</hardwareInterface>
      <machanicalReduction>1</machanicalReduction>
    </actuator>
    <robotNamespace>/centauro</robotNamespace>
  </transmission>
  <transmission name="t_j_arm1_2">
    <type> transmission_interface/SimpleTransmission</type>
    <joint name="j_arm1_2">
      <hardwareInterface>hardware_interface/EffortJointInterface</hardwareInterface>
    </joint>
    <actuator name="motor_j_arm1_2">
      <hardwareInterface>hardware_interface/EffortJointInterface</hardwareInterface>
      <machanicalReduction>1</machanicalReduction>
    </actuator>
    <robotNamespace>/centauro</robotNamespace>
  </transmission>
  <transmission name="t_j_arm1_3">
    <type> transmission_interface/SimpleTransmission</type>
    <joint name="j_arm1_3">
      <hardwareInterface>hardware_interface/EffortJointInterface</hardwareInterface>
    </joint>
    <actuator name="motor_j_arm1_3">
      <hardwareInterface>hardware_interface/EffortJointInterface</hardwareInterface>
      <machanicalReduction>1</machanicalReduction>
    </actuator>
    <robotNamespace>/centauro</robotNamespace>
  </transmission>
  <transmission name="t_j_arm1_4">
    <type> transmission_interface/SimpleTransmission</type>
    <joint name="j_arm1_4">
      <hardwareInterface>hardware_interface/EffortJointInterface</hardwareInterface>
    </joint>
    <actuator name="motor_j_arm1_4">
      <hardwareInterface>hardware_interface/EffortJointInterface</hardwareInterface>
      <machanicalReduction>1</machanicalReduction>
    </actuator>
    <robotNamespace>/centauro</robotNamespace>
  </transmission>
  <transmission name="t_j_arm1_5">
    <type> transmission_interface/SimpleTransmission</type>
    <joint name="j_arm1_5">
      <hardwareInterface>hardware_interface/EffortJointInterface</hardwareInterface>
    </joint>
    <actuator name="motor_j_arm1_5">
      <hardwareInterface>hardware_interface/EffortJointInterface</hardwareInterface>
      <machanicalReduction>1</machanicalReduction>
    </actuator>
    <robotNamespace>/centauro</robotNamespace>
  </transmission>
  <transmission name="t_j_arm1_6">
    <type> transmission_interface/SimpleTransmission</type>
    <joint name="j_arm1_6">
      <hardwareInterface>hardware_interface/EffortJointInterface</hardwareInterface>
    </joint>
    <actuator name="motor_j_arm1_6">
      <hardwareInterface>hardware_interface/EffortJointInterface</hardwareInterface>
      <machanicalReduction>1</machanicalReduction>
    </actuator>
    <robotNamespace>/centauro</robotNamespace>
  </transmission>
  <transmission name="t_j_arm1_7">
    <type> transmission_interface/SimpleTransmission</type>
    <joint name="j_arm1_7">
      <hardwareInterface>hardware_interface/EffortJointInterface</hardwareInterface>
    </joint>
    <actuator name="motor_j_arm1_7">
      <hardwareInterface>hardware_interface/EffortJointInterface</hardwareInterface>
      <machanicalReduction>1</machanicalReduction>
    </actuator>
    <robotNamespace>/centauro</robotNamespace>
  </transmission>
  <!-- /actuators -->
  <!-- wrist pitch-->
  <joint name="j_ft_1" type="revolute">
    <parent link="arm1_7"/>
    <child link="ft_arm1"/>
    <origin rpy="0.0 3.14159265359 -3.14159265359" xyz="0.0 0.0 -0.0405"/>
    <axis xyz="0 0 1"/>
    <limit effort="0" lower="0.0" upper="0.0" velocity="0"/>
  </joint>
  <!-- wrist pitch-->
  <link name="ft_arm1">
    <inertial>
      <origin xyz="0.0 -0.0 0.0"/>
      <mass value="0.15"/>
      <inertia ixx="1e-06" ixy="-0.0" ixz="0.0" iyy="1e-06" iyz="-0.0" izz="1e-06"/>
    </inertial>
  </link>
  <transmission name="t_j_ft_1">
    <type> transmission_interface/SimpleTransmission</type>
    <joint name="j_ft_1">
      <hardwareInterface>hardware_interface/EffortJointInterface</hardwareInterface>
    </joint>
    <actuator name="motor_j_ft_1">
      <hardwareInterface>hardware_interface/EffortJointInterface</hardwareInterface>
      <machanicalReduction>1</machanicalReduction>
    </actuator>
    <robotNamespace>/centauro</robotNamespace>
  </transmission>
  <!-- links -->
  <link name="arm1_8">
    <inertial>
      <origin rpy="0 0 0" xyz="0.00270235 -0.01411486 0.05023455"/>
      <mass value="1.8366865"/>
      <inertia ixx="0.0062253159" ixy="0.0003312435" ixz="5.17232e-05" iyy="0.0046306594" iyz="0.0001950252" izz="0.0037732152"/>
      <!--          <inertia ixx="0.003"  ixy="0"  ixz="0" iyy="0.0025" iyz="0" izz="0.00016900" /> -->
    </inertial>
    <visual>
      <origin rpy="0.0 0.0 0.0" xyz="0.0 0.0 0.0"/>
      <geometry>
        <mesh filename="meshes/simplified/heri.stl" scale="0.001 -0.001 -0.001"/>
      </geometry>
      <material name="dark_grey"/>
    </visual>
    <collision>
      <origin rpy="0.0 0.0 0.0" xyz="0.0 0.0 0.0"/>
      <geometry>
        <mesh filename="meshes/convex_hull/heri.stl" scale="0.001 -0.001 -0.001"/>
      </geometry>
    </collision>
  </link>
  <!-- /links -->
  <!-- joints -->
  <joint name="j_arm1_8" type="fixed">
    <parent link="ft_arm1"/>
    <origin rpy="0.0 0.0 0.0" xyz="0.0 0.0 0.0"/>
    <child link="arm1_8"/>
    <axis xyz="1 0 0"/>
  </joint>
   --&gt;

  <!-- /joints -->
  <!-- /end-effector -->
  <!-- LINKS -->
  <!-- shoulder yaw-roll-->
  <link name="arm2_1">
    <inertial>
      <origin xyz="-0.0031005886 -0.040324584 0.007451937"/>
      <mass value="1.5583338"/>
      <inertia ixx="0.0032318636" ixy="-4.24587e-05" ixz="4.91626e-05" iyy="0.00275718" iyz="0.0002387056" izz="0.004275047"/>
    </inertial>
    <visual>
      <origin rpy="0.0 0.0 0.0" xyz="0.0 0.0 0.0"/>
      <geometry>
        <mesh filename="meshes/simplified/link2.stl" scale="0.001 0.001 0.001"/>
      </geometry>
      <material name="dark_grey"/>
    </visual>
    <collision>
      <origin rpy="0.0 0.0 0.0" xyz="0.0 0.0 0.0"/>
      <geometry>
        <mesh filename="meshes/convex_hull/link2.stl" scale="0.001 0.001 0.001"/>
      </geometry>
    </collision>
  </link>
  <!-- shoulder yaw-roll-->
  <!-- shoulder roll-pitch-->
  <link name="arm2_2">
    <inertial>
      <origin xyz="0.05105435 -0.00011109 -0.07643596"/>
      <mass value="1.515061"/>
      <inertia ixx="0.01029558" ixy="-2.846e-05" ixz="0.0036567" iyy="0.01178018" iyz="-2.088e-05" izz="0.00386123"/>
    </inertial>
    <visual>
      <origin rpy="0.0 0.0 0.0" xyz="0.0 0.0 0.0"/>
      <geometry>
        <mesh filename="meshes/simplified/link3.stl" scale="0.001 0.001 0.001"/>
      </geometry>
    </visual>
    <collision>
      <origin rpy="0.0 0.0 0.0" xyz="0.0 0.0 0.0"/>
      <geometry>
        <mesh filename="meshes/convex_hull/link3.stl" scale="0.001 0.001 0.001"/>
      </geometry>
    </collision>
  </link>
  <!-- shoulder roll-pitch-->
  <!-- shoulder-elbow -->
  <link name="arm2_3">
    <inertial>
      <origin xyz="0.01207624 -0.00322013 -0.03427312"/>
      <mass value="1.5088101"/>
      <inertia ixx="0.00469819" ixy="0.00026547" ixz="0.00077706" iyy="0.00501755" iyz="-0.00029679" izz="0.00310954"/>
    </inertial>
    <visual>
      <origin rpy="0.0 0.0 0.0" xyz="0.0 0.0 0.0"/>
      <geometry>
        <mesh filename="meshes/simplified/link4.stl" scale="0.001 0.001 0.001"/>
      </geometry>
      <material name="dark_grey"/>
    </visual>
    <collision>
      <origin rpy="0.0 0.0 0.0" xyz="0.0 0.0 0.0"/>
      <geometry>
        <mesh filename="meshes/convex_hull/link4.stl" scale="0.001 0.001 0.001"/>
      </geometry>
    </collision>
  </link>
  <!-- /shoulder-elbow -->
  <!-- elbow yaw-pitch -->
  <link name="arm2_4">
    <inertial>
      <origin xyz="0.010147552 0.029928537 -0.032528288"/>
      <mass value="0.96297329"/>
      <inertia ixx="0.0026493567" ixy="-5.1632e-06" ixz="0.0001292309" iyy="0.0023470955" iyz="0.0007895755" izz="0.0012213063"/>
    </inertial>
    <visual>
      <origin rpy="0.0 0.0 0.0" xyz="0.0 0.0 0.0"/>
      <geometry>
        <mesh filename="meshes/simplified/link5.stl" scale="0.001 0.001 0.001"/>
      </geometry>
    </visual>
    <collision>
      <origin rpy="0.0 0.0 0.0" xyz="0.0 0.0 0.0"/>
      <geometry>
        <mesh filename="meshes/convex_hull/link5.stl" scale="0.001 0.001 0.001"/>
      </geometry>
    </collision>
  </link>
  <!-- /elbow yaw-pitch -->
  <!-- elbow-wrist -->
  <link name="arm2_5">
    <inertial>
      <origin xyz="-0.0001574443 -0.0041320907 -0.10756614"/>
      <mass value="1.4703698"/>
      <inertia ixx="0.0064160453" ixy="-1.96382e-05" ixz="2.49912e-05" iyy="0.0062016367" iyz="0.0001987903" izz="0.0017091658"/>
    </inertial>
    <visual>
      <origin rpy="0.0 0.0 0.0" xyz="0.0 0.0 0.0"/>
      <geometry>
        <mesh filename="meshes/simplified/link6.stl" scale="0.001 0.001 0.001"/>
      </geometry>
      <material name="dark_grey"/>
    </visual>
    <collision>
      <origin rpy="0.0 0.0 0.0" xyz="0.0 0.0 0.0"/>
      <geometry>
        <mesh filename="meshes/convex_hull/link6.stl" scale="0.001 0.001 0.001"/>
      </geometry>
    </collision>
  </link>
  <!-- /elbow-wrist -->
  <!-- wrist yaw-pitch -->
  <link name="arm2_6">
    <inertial>
      <origin xyz="3.23645e-05 0.035947237 -0.080878061"/>
      <mass value="0.94693868"/>
      <inertia ixx="0.0036896582" ixy="-2.63667e-05" ixz="1.4005e-06" iyy="0.0034146283" iyz="0.0008268103" izz="0.0010790183"/>
    </inertial>
    <visual>
      <origin rpy="0.0 0.0 0.0" xyz="0.0 0.0 0.0"/>
      <geometry>
        <mesh filename="meshes/simplified/link7.stl" scale="0.001 0.001 0.001"/>
      </geometry>
    </visual>
    <collision>
      <origin rpy="0.0 0.0 0.0" xyz="0.0 0.0 0.0"/>
      <geometry>
        <mesh filename="meshes/convex_hull/link7.stl" scale="0.001 0.001 0.001"/>
      </geometry>
    </collision>
  </link>
  <!-- /wrist yaw-pitch -->
  <link name="arm2_7">
    <inertial>
      <origin xyz="2.46596e-05 0.0001467705 -0.0052993013"/>
      <mass value="0.55981036"/>
      <inertia ixx="0.0004360175" ixy="-1.397e-07" ixz="-1.382e-07" iyy="0.0004299166" iyz="1.4752e-06" izz="0.0004522224"/>
    </inertial>
    <visual>
      <origin rpy="0.0 0.0 0.0" xyz="0.0 0.0 0.0"/>
      <geometry>
        <mesh filename="meshes/simplified/link8.stl" scale="0.001 0.001 0.001"/>
      </geometry>
      <material name="dark_grey"/>
    </visual>
    <collision>
      <origin rpy="0.0 0.0 0.0" xyz="0.0 0.0 0.0"/>
      <geometry>
        <mesh filename="meshes/convex_hull/link8.stl" scale="0.001 0.001 0.001"/>
      </geometry>
    </collision>
  </link>
  <!-- /LINKS -->
  <!-- JOINTS -->
  <!-- shoulder yaw -->
  <joint name="j_arm2_1" type="revolute">
    <parent link="torso_2"/>
    <child link="arm2_1"/>
    <origin rpy="0.0 0.0 0.523602668986" xyz="0.04576 -0.169137 0.116626"/>
    <axis xyz="0 -0.984807753012 0.173648177667"/>
    <limit effort="147" lower="-1.6102" upper="3.3138" velocity="5.7"/>
  </joint>
  <!-- /shoulder yaw -->
  <!-- shoulder roll -->
  <joint name="j_arm2_2" type="revolute">
    <parent link="arm2_1"/>
    <child link="arm2_2"/>
    <origin xyz="-0.09115 -0.06106 0.010766"/>
    <axis xyz="-1 0 0"/>
    <limit effort="147" lower="0.0578" upper="3.4288" velocity="5.7"/>
  </joint>
  <!-- /shoulder roll -->
  <!-- shoulder pitch-->
  <joint name="j_arm2_3" type="revolute">
    <parent link="arm2_2"/>
    <child link="arm2_3"/>
    <origin xyz="0.09115 0.0 -0.21915"/>
    <axis xyz="0 0 -1"/>
    <limit effort="147" lower="-2.5426" upper="2.5524" velocity="8.2"/>
  </joint>
  <!-- /shoulder pitch -->
  <!-- elbow yaw -->
  <joint name="j_arm2_4" type="revolute">
    <parent link="arm2_3"/>
    <child link="arm2_4"/>
    <origin xyz="0.04 -0.05615 -0.074"/>
    <axis xyz="0 -1 0"/>
    <limit effort="147" lower="-0.2796" upper="2.4564" velocity="8.2"/>
  </joint>
  <!-- /elbow yaw -->
  <!-- elbow pitch-->
  <joint name="j_arm2_5" type="revolute">
    <parent link="arm2_4"/>
    <child link="arm2_5"/>
    <origin xyz="-0.015 0.05615 -0.061"/>
    <axis xyz="0 0 -1"/>
    <limit effort="55" lower="-2.5626" upper="2.5464" velocity="11.6"/>
  </joint>
  <!-- /elbow pitch-->
  <!-- wrist yaw-->
  <joint name="j_arm2_6" type="revolute">
    <parent link="arm2_5"/>
    <child link="arm2_6"/>
    <origin xyz="0.0 -0.049 -0.18"/>
    <axis xyz="0 -1 0"/>
    <limit effort="55" lower="-1.4726" upper="1.5364" velocity="11.6"/>
  </joint>
  <!-- /wrist yaw-->
  <!-- wrist pitch-->
  <joint name="j_arm2_7" type="revolute">
    <parent link="arm2_6"/>
    <child link="arm2_7"/>
    <origin xyz="0.0 0.049 -0.169"/>
    <axis xyz="0 0 -1"/>
    <limit effort="27" lower="-3.0908" upper="2.0114" velocity="20.3"/>
  </joint>
  <!-- wrist pitch-->
  <!-- force-troque sensor -->
  <transmission name="t_j_arm2_1">
    <type> transmission_interface/SimpleTransmission</type>
    <joint name="j_arm2_1">
      <hardwareInterface>hardware_interface/EffortJointInterface</hardwareInterface>
    </joint>
    <actuator name="motor_j_arm2_1">
      <hardwareInterface>hardware_interface/EffortJointInterface</hardwareInterface>
      <machanicalReduction>1</machanicalReduction>
    </actuator>
    <robotNamespace>/centauro</robotNamespace>
  </transmission>
  <transmission name="t_j_arm2_2">
    <type> transmission_interface/SimpleTransmission</type>
    <joint name="j_arm2_2">
      <hardwareInterface>hardware_interface/EffortJointInterface</hardwareInterface>
    </joint>
    <actuator name="motor_j_arm2_2">
      <hardwareInterface>hardware_interface/EffortJointInterface</hardwareInterface>
      <machanicalReduction>1</machanicalReduction>
    </actuator>
    <robotNamespace>/centauro</robotNamespace>
  </transmission>
  <transmission name="t_j_arm2_3">
    <type> transmission_interface/SimpleTransmission</type>
    <joint name="j_arm2_3">
      <hardwareInterface>hardware_interface/EffortJointInterface</hardwareInterface>
    </joint>
    <actuator name="motor_j_arm2_3">
      <hardwareInterface>hardware_interface/EffortJointInterface</hardwareInterface>
      <machanicalReduction>1</machanicalReduction>
    </actuator>
    <robotNamespace>/centauro</robotNamespace>
  </transmission>
  <transmission name="t_j_arm2_4">
    <type> transmission_interface/SimpleTransmission</type>
    <joint name="j_arm2_4">
      <hardwareInterface>hardware_interface/EffortJointInterface</hardwareInterface>
    </joint>
    <actuator name="motor_j_arm2_4">
      <hardwareInterface>hardware_interface/EffortJointInterface</hardwareInterface>
      <machanicalReduction>1</machanicalReduction>
    </actuator>
    <robotNamespace>/centauro</robotNamespace>
  </transmission>
  <transmission name="t_j_arm2_5">
    <type> transmission_interface/SimpleTransmission</type>
    <joint name="j_arm2_5">
      <hardwareInterface>hardware_interface/EffortJointInterface</hardwareInterface>
    </joint>
    <actuator name="motor_j_arm2_5">
      <hardwareInterface>hardware_interface/EffortJointInterface</hardwareInterface>
      <machanicalReduction>1</machanicalReduction>
    </actuator>
    <robotNamespace>/centauro</robotNamespace>
  </transmission>
  <transmission name="t_j_arm2_6">
    <type> transmission_interface/SimpleTransmission</type>
    <joint name="j_arm2_6">
      <hardwareInterface>hardware_interface/EffortJointInterface</hardwareInterface>
    </joint>
    <actuator name="motor_j_arm2_6">
      <hardwareInterface>hardware_interface/EffortJointInterface</hardwareInterface>
      <machanicalReduction>1</machanicalReduction>
    </actuator>
    <robotNamespace>/centauro</robotNamespace>
  </transmission>
  <transmission name="t_j_arm2_7">
    <type> transmission_interface/SimpleTransmission</type>
    <joint name="j_arm2_7">
      <hardwareInterface>hardware_interface/EffortJointInterface</hardwareInterface>
    </joint>
    <actuator name="motor_j_arm2_7">
      <hardwareInterface>hardware_interface/EffortJointInterface</hardwareInterface>
      <machanicalReduction>1</machanicalReduction>
    </actuator>
    <robotNamespace>/centauro</robotNamespace>
  </transmission>
  <!-- /actuators -->
  <!-- wrist pitch-->
  <joint name="j_ft_2" type="revolute">
    <parent link="arm2_7"/>
    <child link="ft_arm2"/>
    <origin rpy="0.0 3.14159265359 -3.14159265359" xyz="0.0 0.0 -0.0405"/>
    <axis xyz="0 0 1"/>
    <limit effort="0" lower="0.0" upper="0.0" velocity="0"/>
  </joint>
  <!-- wrist pitch-->
  <link name="ft_arm2">
    <inertial>
      <origin xyz="0.0 0.0 0.0"/>
      <mass value="0.15"/>
      <inertia ixx="1e-06" ixy="0.0" ixz="0.0" iyy="1e-06" iyz="0.0" izz="1e-06"/>
    </inertial>
  </link>
  <transmission name="t_j_ft_2">
    <type> transmission_interface/SimpleTransmission</type>
    <joint name="j_ft_2">
      <hardwareInterface>hardware_interface/EffortJointInterface</hardwareInterface>
    </joint>
    <actuator name="motor_j_ft_2">
      <hardwareInterface>hardware_interface/EffortJointInterface</hardwareInterface>
      <machanicalReduction>1</machanicalReduction>
    </actuator>
    <robotNamespace>/centauro</robotNamespace>
  </transmission>
  <!-- links -->
  <link name="arm2_8">
    <inertial>
      <origin rpy="0 0 0" xyz="0.00270235 -0.01411486 0.05023455"/>
      <mass value="1.8366865"/>
      <inertia ixx="0.0062253159" ixy="0.0003312435" ixz="5.17232e-05" iyy="0.0046306594" iyz="0.0001950252" izz="0.0037732152"/>
      <!--          <inertia ixx="0.003"  ixy="0"  ixz="0" iyy="0.0025" iyz="0" izz="0.00016900" /> -->
    </inertial>
    <visual>
      <origin rpy="0.0 0.0 0.0" xyz="0.0 0.0 0.0"/>
      <geometry>
        <mesh filename="meshes/simplified/heri.stl" scale="0.001 0.001 -0.001"/>
      </geometry>
      <material name="dark_grey"/>
    </visual>
    <collision>
      <origin rpy="0.0 0.0 0.0" xyz="0.0 0.0 0.0"/>
      <geometry>
        <mesh filename="meshes/convex_hull/heri.stl" scale="0.001 0.001 -0.001"/>
      </geometry>
    </collision>
  </link>
  <!-- /links -->
  <!-- joints -->
  <joint name="j_arm2_8" type="fixed">
    <parent link="ft_arm2"/>
    <origin rpy="0.0 0.0 0.0" xyz="0.0 0.0 0.0"/>
    <child link="arm2_8"/>
    <axis xyz="1 0 0"/>
  </joint>
   --&gt;

  <!-- /joints -->
  <!-- /end-effector -->
  <!-- /arms -->
  <link name="hip1_1">
    <inertial>
      <origin xyz="0.010214199 -0.018348359 0.038090987"/>
      <mass value="1.9194403"/>
      <!-- org: 2 -->
      <inertia ixx="0.0047439572" ixy="0.0005747047" ixz="-0.0003784138" iyy="0.0040551878" iyz="0.0007407508" izz="0.0034146219"/>
      <!-- <inertia ixx="0.01" ixy="0.01" ixz="0.01" iyy="0.01" iyz="0.01" izz="0.01"/> -->
    </inertial>
    <visual>
      <origin rpy="0.0 0.0 4.06442490005" xyz="0.0 0.0 0.0"/>
      <geometry>
        <mesh filename="meshes/simplified/hip-yaw.stl" scale="0.001 0.001 0.001"/>
      </geometry>
      <material name="dark_grey"/>
    </visual>
    <collision>
      <origin rpy="0.0 0.0 4.06442490005" xyz="0.0 0.0 0.0"/>
      <geometry>
        <mesh filename="meshes/convex_hull/hip-yaw.stl" scale="0.001 0.001 0.001"/>
      </geometry>
    </collision>
  </link>
  <link name="hip2_1">
    <inertial>
      <origin xyz="2.57966e-05 0.1810266 0.085669756"/>
      <mass value="2.7264471"/>
      <!-- org: 4.5 -->
      <inertia ixx="0.04851869" ixy="-4.11894e-05" ixz="-1.68778e-05" iyy="0.004242055" iyz="0.0032243188" izz="0.04825583"/>
      <!-- <inertia ixx="0.01" ixy="0.01" ixz="0.01" iyy="0.01" iyz="0.01" izz="0.01"/> -->
    </inertial>
    <visual>
      <origin rpy="0.0 0.0 0.0" xyz="0.0 0.0 0.0"/>
      <geometry>
        <mesh filename="meshes/simplified/hip-pitch.stl" scale="0.001 0.001 0.001"/>
      </geometry>
    </visual>
    <collision>
      <origin rpy="0.0 0.0 0.0" xyz="0.0 0.0 0.0"/>
      <geometry>
        <mesh filename="meshes/convex_hull/hip-pitch.stl" scale="0.001 0.001 0.001"/>
      </geometry>
    </collision>
  </link>
  <link name="knee_1">
    <inertial>
      <origin xyz="0.10881667 0.0001089081 -0.022638996"/>
      <mass value="1.9356754"/>
      <!-- org: 3.5, foot un modeled-->
      <inertia ixx="0.0030534242" ixy="-4.22079e-05" ixz="0.0013679297" iyy="0.019603321" iyz="6.9941e-06" izz="0.019849817"/>
      <!--	<inertia ixx="0.01" ixy="0.01" ixz="0.01" iyy="0.01" iyz="0.01" izz="0.01"/>  -->
    </inertial>
    <visual>
      <origin rpy="0.0 0.0 0.0" xyz="0.0 0.0 0.0"/>
      <geometry>
        <mesh filename="meshes/simplified/knee.stl" scale="0.001 0.001 0.001"/>
      </geometry>
      <material name="dark_grey"/>
    </visual>
    <collision>
      <origin rpy="0.0 0.0 0.0" xyz="0.0 0.0 0.0"/>
      <geometry>
        <mesh filename="meshes/convex_hull/knee.stl" scale="0.001 0.001 0.001"/>
      </geometry>
    </collision>
  </link>
  <link name="ankle1_1">
    <inertial>
      <origin xyz="0.032137318 9.73572e-05 -0.0044222206"/>
      <mass value="1.2380744"/>
      <!-- org: 3.5, foot un modeled-->
      <inertia ixx="0.0015610452" ixy="3.30597e-05" ixz="-0.0001314174" iyy="0.0037423211" iyz="-2.12589e-05" izz="0.0038312442"/>
      <!--	<inertia ixx="0.01" ixy="0.01" ixz="0.01" iyy="0.01" iyz="0.01" izz="0.01"/>  -->
    </inertial>
    <visual>
      <origin rpy="0.0 0.0 0.0" xyz="0.0 0.0 0.0"/>
      <geometry>
        <mesh filename="meshes/simplified/ankle-pitch.stl" scale="0.001 0.001 0.001"/>
      </geometry>
    </visual>
    <collision>
      <origin rpy="0.0 0.0 0.0" xyz="0.0 0.0 0.0"/>
      <geometry>
        <mesh filename="meshes/convex_hull/ankle-pitch.stl" scale="0.001 0.001 0.001"/>
      </geometry>
    </collision>
  </link>
  <link name="ankle2_1">
    <inertial>
      <origin xyz="0.0004435803 0.0004389911 0.19392092"/>
      <mass value="1.1565926"/>
      <!-- org: 3.5, foot un modeled-->
      <inertia ixx="0.0049019475" ixy="4.3032e-06" ixz="3.46491e-05" iyy="0.0038724162" iyz="1.7099e-05" izz="0.0021783198"/>
    </inertial>
    <visual>
      <origin rpy="0.0 0.0 0.0" xyz="0.0 0.0 0.0"/>
      <geometry>
        <mesh filename="meshes/simplified/ankle-yaw.stl" scale="0.001 0.001 0.001"/>
      </geometry>
      <material name="dark_grey"/>
    </visual>
    <collision>
      <origin rpy="0.0 0.0 0.0" xyz="0.0 0.0 0.0"/>
      <geometry>
        <mesh filename="meshes/convex_hull/ankle-yaw.stl" scale="0.001 0.001 0.001"/>
      </geometry>
    </collision>
  </link>
  <link name="wheel_1">
    <inertial>
      <origin xyz="0.0 0.0 0.0024271906"/>
      <mass value="1.7289003"/>
      <!-- org: 3.5, foot un modeled-->
      <inertia ixx="0.0046864297" ixy="0.0" ixz="0.0" iyy="0.0046713489" iyz="0.0" izz="0.0053126029"/>
    </inertial>
    <visual>
      <origin rpy="0.0 0.0 0.0" xyz="0.0 0.0 0.0"/>
      <geometry>
        <mesh filename="meshes/simplified/wheel.stl" scale="0.001 0.001 0.001"/>
      </geometry>
      <material name="black"/>
    </visual>
    <collision>
      <origin rpy="0.0 0.0 0.0" xyz="0.0 0.0 0.0"/>
      <geometry>
        <mesh filename="meshes/convex_hull/wheel.stl" scale="0.001 0.001 0.001"/>
      </geometry>
    </collision>
  </link>
  <joint name="hip_yaw_1" type="revolute">
    <parent link="pelvis"/>
    <child link="hip1_1"/>
    <origin rpy="3.14159265359 0.0 0.461416123228" xyz="0.25 0.125 -0.0566"/>
    <axis xyz="0 0 1"/>
    <limit effort="304" lower="-0.9432" upper="2.5138" velocity="8.8"/>
  </joint>
  <joint name="hip_pitch_1" type="revolute">
    <parent link="hip1_1"/>
    <child link="hip2_1"/>
    <origin rpy="1.57079632679 0.0 0.46141612323" xyz="0.0 0.0 0.0625"/>
    <axis xyz="0 0 1"/>
    <limit effort="304" lower="-2.0226" upper="2.02748" velocity="8.8"/>
  </joint>
  <joint name="knee_pitch_1" type="revolute">
    <parent link="hip2_1"/>
    <child link="knee_1"/>
    <origin rpy="3.14159265359 0.0 1.57079632679" xyz="0.0 0.3 -0.0036"/>
    <axis xyz="0 0 1"/>
    <limit effort="304" lower="-2.4056" upper="2.3994" velocity="8.8"/>
  </joint>
  <joint name="ankle_pitch_1" type="revolute">
    <parent link="knee_1"/>
    <child link="ankle1_1"/>
    <origin rpy="3.14159265359 0.0 0.0" xyz="0.2 0.0 -0.10015"/>
    <axis xyz="0 0 1"/>
    <limit effort="147" lower="-2.4056" upper="2.3184" velocity="8.1"/>
  </joint>
  <joint name="ankle_yaw_1" type="revolute">
    <parent link="ankle1_1"/>
    <child link="ankle2_1"/>
    <origin rpy="1.57079632679 0.0 1.57079632679" xyz="0.0 0.0 0.0"/>
    <axis xyz="0 0 1"/>
    <limit effort="35" lower="-2.5626" upper="2.5384" velocity="20.0"/>
  </joint>
  <joint name="j_wheel_1" type="continuous">
    <parent link="ankle2_1"/>
    <child link="wheel_1"/>
    <origin rpy="1.57079632679 0.0 3.14159265359" xyz="0.0 0.00085 0.23735"/>
    <axis xyz="0 0 -1"/>
    <limit effort="35" velocity="20.0"/>
  </joint>
  <transmission name="t_hip_yaw_1">
    <type> transmission_interface/SimpleTransmission</type>
    <joint name="hip_yaw_1">
      <hardwareInterface>hardware_interface/EffortJointInterface</hardwareInterface>
    </joint>
    <actuator name="motor_hip_yaw_1">
      <hardwareInterface>hardware_interface/EffortJointInterface</hardwareInterface>
      <machanicalReduction>1</machanicalReduction>
    </actuator>
    <robotNamespace>/centauro</robotNamespace>
  </transmission>
  <transmission name="t_hip_pitch_1">
    <type> transmission_interface/SimpleTransmission</type>
    <joint name="hip_pitch_1">
      <hardwareInterface>hardware_interface/EffortJointInterface</hardwareInterface>
    </joint>
    <actuator name="motor_hip_pitch_1">
      <hardwareInterface>hardware_interface/EffortJointInterface</hardwareInterface>
      <machanicalReduction>1</machanicalReduction>
    </actuator>
    <robotNamespace>/centauro</robotNamespace>
  </transmission>
  <transmission name="t_knee_pitch_1">
    <type> transmission_interface/SimpleTransmission</type>
    <joint name="knee_pitch_1">
      <hardwareInterface>hardware_interface/EffortJointInterface</hardwareInterface>
    </joint>
    <actuator name="motor_knee_pitch_1">
      <hardwareInterface>hardware_interface/EffortJointInterface</hardwareInterface>
      <machanicalReduction>1</machanicalReduction>
    </actuator>
    <robotNamespace>/centauro</robotNamespace>
  </transmission>
  <transmission name="t_ankle_pitch_1">
    <type> transmission_interface/SimpleTransmission</type>
    <joint name="ankle_pitch_1">
      <hardwareInterface>hardware_interface/EffortJointInterface</hardwareInterface>
    </joint>
    <actuator name="motor_ankle_pitch_1">
      <hardwareInterface>hardware_interface/EffortJointInterface</hardwareInterface>
      <machanicalReduction>1</machanicalReduction>
    </actuator>
    <robotNamespace>/centauro</robotNamespace>
  </transmission>
  <transmission name="t_ankle_yaw_1">
    <type> transmission_interface/SimpleTransmission</type>
    <joint name="ankle_yaw_1">
      <hardwareInterface>hardware_interface/EffortJointInterface</hardwareInterface>
    </joint>
    <actuator name="motor_ankle_yaw_1">
      <hardwareInterface>hardware_interface/EffortJointInterface</hardwareInterface>
      <machanicalReduction>1</machanicalReduction>
    </actuator>
    <robotNamespace>/centauro</robotNamespace>
  </transmission>
  <transmission name="t_j_wheel_1">
    <type> transmission_interface/SimpleTransmission</type>
    <joint name="j_wheel_1">
      <hardwareInterface>hardware_interface/EffortJointInterface</hardwareInterface>
    </joint>
    <actuator name="motor_j_wheel_1">
      <hardwareInterface>hardware_interface/EffortJointInterface</hardwareInterface>
      <machanicalReduction>1</machanicalReduction>
    </actuator>
    <robotNamespace>/centauro</robotNamespace>
  </transmission>
  <!-- /actuators -->
  <link name="hip1_2">
    <inertial>
      <origin xyz="0.010214199 0.018348359 0.038090987"/>
      <mass value="1.9194403"/>
      <!-- org: 2 -->
      <inertia ixx="0.0047439572" ixy="-0.0005747047" ixz="-0.0003784138" iyy="0.0040551878" iyz="-0.0007407508" izz="0.0034146219"/>
      <!-- <inertia ixx="0.01" ixy="0.01" ixz="0.01" iyy="0.01" iyz="0.01" izz="0.01"/> -->
    </inertial>
    <visual>
      <origin rpy="0.0 0.0 0.0" xyz="0.0 0.0 0.0"/>
      <geometry>
        <mesh filename="meshes/simplified/hip-yaw.stl" scale="0.001 0.001 0.001"/>
      </geometry>
      <material name="dark_grey"/>
    </visual>
    <collision>
      <origin rpy="0.0 0.0 0.0" xyz="0.0 0.0 0.0"/>
      <geometry>
        <mesh filename="meshes/convex_hull/hip-yaw.stl" scale="0.001 0.001 0.001"/>
      </geometry>
    </collision>
  </link>
  <link name="hip2_2">
    <inertial>
      <origin xyz="2.57966e-05 0.1810266 0.085669756"/>
      <mass value="2.7264471"/>
      <!-- org: 4.5 -->
      <inertia ixx="0.04851869" ixy="-4.11894e-05" ixz="-1.68778e-05" iyy="0.004242055" iyz="0.0032243188" izz="0.04825583"/>
      <!-- <inertia ixx="0.01" ixy="0.01" ixz="0.01" iyy="0.01" iyz="0.01" izz="0.01"/> -->
    </inertial>
    <visual>
      <origin rpy="0.0 0.0 0.0" xyz="0.0 0.0 0.0"/>
      <geometry>
        <mesh filename="meshes/simplified/hip-pitch.stl" scale="0.001 0.001 0.001"/>
      </geometry>
    </visual>
    <collision>
      <origin rpy="0.0 0.0 0.0" xyz="0.0 0.0 0.0"/>
      <geometry>
        <mesh filename="meshes/convex_hull/hip-pitch.stl" scale="0.001 0.001 0.001"/>
      </geometry>
    </collision>
  </link>
  <link name="knee_2">
    <inertial>
      <origin xyz="0.10881667 0.0001089081 -0.022638996"/>
      <mass value="1.9356754"/>
      <!-- org: 3.5, foot un modeled-->
      <inertia ixx="0.0030534242" ixy="-4.22079e-05" ixz="0.0013679297" iyy="0.019603321" iyz="6.9941e-06" izz="0.019849817"/>
      <!--	<inertia ixx="0.01" ixy="0.01" ixz="0.01" iyy="0.01" iyz="0.01" izz="0.01"/>  -->
    </inertial>
    <visual>
      <origin rpy="0.0 0.0 0.0" xyz="0.0 0.0 0.0"/>
      <geometry>
        <mesh filename="meshes/simplified/knee.stl" scale="0.001 0.001 0.001"/>
      </geometry>
      <material name="dark_grey"/>
    </visual>
    <collision>
      <origin rpy="0.0 0.0 0.0" xyz="0.0 0.0 0.0"/>
      <geometry>
        <mesh filename="meshes/convex_hull/knee.stl" scale="0.001 0.001 0.001"/>
      </geometry>
    </collision>
  </link>
  <link name="ankle1_2">
    <inertial>
      <origin xyz="0.032137318 9.73572e-05 -0.0044222206"/>
      <mass value="1.2380744"/>
      <!-- org: 3.5, foot un modeled-->
      <inertia ixx="0.0015610452" ixy="3.30597e-05" ixz="-0.0001314174" iyy="0.0037423211" iyz="-2.12589e-05" izz="0.0038312442"/>
      <!--	<inertia ixx="0.01" ixy="0.01" ixz="0.01" iyy="0.01" iyz="0.01" izz="0.01"/>  -->
    </inertial>
    <visual>
      <origin rpy="0.0 0.0 0.0" xyz="0.0 0.0 0.0"/>
      <geometry>
        <mesh filename="meshes/simplified/ankle-pitch.stl" scale="0.001 0.001 0.001"/>
      </geometry>
    </visual>
    <collision>
      <origin rpy="0.0 0.0 0.0" xyz="0.0 0.0 0.0"/>
      <geometry>
        <mesh filename="meshes/convex_hull/ankle-pitch.stl" scale="0.001 0.001 0.001"/>
      </geometry>
    </collision>
  </link>
  <link name="ankle2_2">
    <inertial>
      <origin xyz="0.0004435803 0.0004389911 0.19392092"/>
      <mass value="1.1565926"/>
      <!-- org: 3.5, foot un modeled-->
      <inertia ixx="0.0049019475" ixy="4.3032e-06" ixz="3.46491e-05" iyy="0.0038724162" iyz="1.7099e-05" izz="0.0021783198"/>
    </inertial>
    <visual>
      <origin rpy="0.0 0.0 0.0" xyz="0.0 0.0 0.0"/>
      <geometry>
        <mesh filename="meshes/simplified/ankle-yaw.stl" scale="0.001 0.001 0.001"/>
      </geometry>
      <material name="dark_grey"/>
    </visual>
    <collision>
      <origin rpy="0.0 0.0 0.0" xyz="0.0 0.0 0.0"/>
      <geometry>
        <mesh filename="meshes/convex_hull/ankle-yaw.stl" scale="0.001 0.001 0.001"/>
      </geometry>
    </collision>
  </link>
  <link name="wheel_2">
    <inertial>
      <origin xyz="0.0 0.0 0.0024271906"/>
      <mass value="1.7289003"/>
      <!-- org: 3.5, foot un modeled-->
      <inertia ixx="0.0046864297" ixy="0.0" ixz="0.0" iyy="0.0046713489" iyz="0.0" izz="0.0053126029"/>
    </inertial>
    <visual>
      <origin rpy="0.0 0.0 0.0" xyz="0.0 0.0 0.0"/>
      <geometry>
        <mesh filename="meshes/simplified/wheel.stl" scale="0.001 0.001 0.001"/>
      </geometry>
      <material name="black"/>
    </visual>
    <collision>
      <origin rpy="0.0 0.0 0.0" xyz="0.0 0.0 0.0"/>
      <geometry>
        <mesh filename="meshes/convex_hull/wheel.stl" scale="0.001 0.001 0.001"/>
      </geometry>
    </collision>
  </link>
  <joint name="hip_yaw_2" type="revolute">
    <parent link="pelvis"/>
    <child link="hip1_2"/>
    <origin rpy="3.14159265359 0.0 -0.461416123228" xyz="0.25 -0.125 -0.0566"/>
    <axis xyz="0 0 1"/>
    <limit effort="304" lower="-2.511" upper="0.943" velocity="8.8"/>
  </joint>
  <joint name="hip_pitch_2" type="revolute">
    <parent link="hip1_2"/>
    <child link="hip2_2"/>
    <origin rpy="1.57079632679 0.0 2.68017653036" xyz="0.0 0.0 0.0625"/>
    <axis xyz="0 0 1"/>
    <limit effort="304" lower="-2.0156" upper="2.0354" velocity="8.8"/>
  </joint>
  <joint name="knee_pitch_2" type="revolute">
    <parent link="hip2_2"/>
    <child link="knee_2"/>
    <origin rpy="3.14159265359 0.0 1.57079632679" xyz="0.0 0.3 -0.0036"/>
    <axis xyz="0 0 1"/>
    <limit effort="304" lower="-2.4006" upper="2.4034" velocity="8.8"/>
  </joint>
  <joint name="ankle_pitch_2" type="revolute">
    <parent link="knee_2"/>
    <child link="ankle1_2"/>
    <origin rpy="3.14159265359 0.0 0.0" xyz="0.2 0.0 -0.10015"/>
    <axis xyz="0 0 1"/>
    <limit effort="147" lower="-2.3266" upper="2.3914" velocity="8.1"/>
  </joint>
  <joint name="ankle_yaw_2" type="revolute">
    <parent link="ankle1_2"/>
    <child link="ankle2_2"/>
    <origin rpy="1.57079632679 0.0 1.57079632679" xyz="0.0 0.0 0.0"/>
    <axis xyz="0 0 1"/>
    <limit effort="35" lower="-2.5546" upper="2.5484" velocity="20.0"/>
  </joint>
  <joint name="j_wheel_2" type="continuous">
    <parent link="ankle2_2"/>
    <child link="wheel_2"/>
    <origin rpy="1.57079632679 0.0 3.14159265359" xyz="0.0 0.00085 0.23735"/>
    <axis xyz="0 0 -1"/>
    <limit effort="35" velocity="20.0"/>
  </joint>
  <transmission name="t_hip_yaw_2">
    <type> transmission_interface/SimpleTransmission</type>
    <joint name="hip_yaw_2">
      <hardwareInterface>hardware_interface/EffortJointInterface</hardwareInterface>
    </joint>
    <actuator name="motor_hip_yaw_2">
      <hardwareInterface>hardware_interface/EffortJointInterface</hardwareInterface>
      <machanicalReduction>1</machanicalReduction>
    </actuator>
    <robotNamespace>/centauro</robotNamespace>
  </transmission>
  <transmission name="t_hip_pitch_2">
    <type> transmission_interface/SimpleTransmission</type>
    <joint name="hip_pitch_2">
      <hardwareInterface>hardware_interface/EffortJointInterface</hardwareInterface>
    </joint>
    <actuator name="motor_hip_pitch_2">
      <hardwareInterface>hardware_interface/EffortJointInterface</hardwareInterface>
      <machanicalReduction>1</machanicalReduction>
    </actuator>
    <robotNamespace>/centauro</robotNamespace>
  </transmission>
  <transmission name="t_knee_pitch_2">
    <type> transmission_interface/SimpleTransmission</type>
    <joint name="knee_pitch_2">
      <hardwareInterface>hardware_interface/EffortJointInterface</hardwareInterface>
    </joint>
    <actuator name="motor_knee_pitch_2">
      <hardwareInterface>hardware_interface/EffortJointInterface</hardwareInterface>
      <machanicalReduction>1</machanicalReduction>
    </actuator>
    <robotNamespace>/centauro</robotNamespace>
  </transmission>
  <transmission name="t_ankle_pitch_2">
    <type> transmission_interface/SimpleTransmission</type>
    <joint name="ankle_pitch_2">
      <hardwareInterface>hardware_interface/EffortJointInterface</hardwareInterface>
    </joint>
    <actuator name="motor_ankle_pitch_2">
      <hardwareInterface>hardware_interface/EffortJointInterface</hardwareInterface>
      <machanicalReduction>1</machanicalReduction>
    </actuator>
    <robotNamespace>/centauro</robotNamespace>
  </transmission>
  <transmission name="t_ankle_yaw_2">
    <type> transmission_interface/SimpleTransmission</type>
    <joint name="ankle_yaw_2">
      <hardwareInterface>hardware_interface/EffortJointInterface</hardwareInterface>
    </joint>
    <actuator name="motor_ankle_yaw_2">
      <hardwareInterface>hardware_interface/EffortJointInterface</hardwareInterface>
      <machanicalReduction>1</machanicalReduction>
    </actuator>
    <robotNamespace>/centauro</robotNamespace>
  </transmission>
  <transmission name="t_j_wheel_2">
    <type> transmission_interface/SimpleTransmission</type>
    <joint name="j_wheel_2">
      <hardwareInterface>hardware_interface/EffortJointInterface</hardwareInterface>
    </joint>
    <actuator name="motor_j_wheel_2">
      <hardwareInterface>hardware_interface/EffortJointInterface</hardwareInterface>
      <machanicalReduction>1</machanicalReduction>
    </actuator>
    <robotNamespace>/centauro</robotNamespace>
  </transmission>
  <!-- /actuators -->
  <link name="hip1_3">
    <inertial>
      <origin xyz="0.010214199 0.018348359 0.038090987"/>
      <mass value="1.9194403"/>
      <!-- org: 2 -->
      <inertia ixx="0.0047439572" ixy="-0.0005747047" ixz="-0.0003784138" iyy="0.0040551878" iyz="-0.0007407508" izz="0.0034146219"/>
      <!-- <inertia ixx="0.01" ixy="0.01" ixz="0.01" iyy="0.01" iyz="0.01" izz="0.01"/> -->
    </inertial>
    <visual>
      <origin rpy="0.0 0.0 0.0" xyz="0.0 0.0 0.0"/>
      <geometry>
        <mesh filename="meshes/simplified/hip-yaw.stl" scale="0.001 0.001 0.001"/>
      </geometry>
      <material name="dark_grey"/>
    </visual>
    <collision>
      <origin rpy="0.0 0.0 0.0" xyz="0.0 0.0 0.0"/>
      <geometry>
        <mesh filename="meshes/convex_hull/hip-yaw.stl" scale="0.001 0.001 0.001"/>
      </geometry>
    </collision>
  </link>
  <link name="hip2_3">
    <inertial>
      <origin xyz="2.57966e-05 0.1810266 0.085669756"/>
      <mass value="2.7264471"/>
      <!-- org: 4.5 -->
      <inertia ixx="0.04851869" ixy="-4.11894e-05" ixz="-1.68778e-05" iyy="0.004242055" iyz="0.0032243188" izz="0.04825583"/>
      <!-- <inertia ixx="0.01" ixy="0.01" ixz="0.01" iyy="0.01" iyz="0.01" izz="0.01"/> -->
    </inertial>
    <visual>
      <origin rpy="0.0 0.0 0.0" xyz="0.0 0.0 0.0"/>
      <geometry>
        <mesh filename="meshes/simplified/hip-pitch.stl" scale="0.001 0.001 0.001"/>
      </geometry>
    </visual>
    <collision>
      <origin rpy="0.0 0.0 0.0" xyz="0.0 0.0 0.0"/>
      <geometry>
        <mesh filename="meshes/convex_hull/hip-pitch.stl" scale="0.001 0.001 0.001"/>
      </geometry>
    </collision>
  </link>
  <link name="knee_3">
    <inertial>
      <origin xyz="0.10881667 0.0001089081 -0.022638996"/>
      <mass value="1.9356754"/>
      <!-- org: 3.5, foot un modeled-->
      <inertia ixx="0.0030534242" ixy="-4.22079e-05" ixz="0.0013679297" iyy="0.019603321" iyz="6.9941e-06" izz="0.019849817"/>
      <!--	<inertia ixx="0.01" ixy="0.01" ixz="0.01" iyy="0.01" iyz="0.01" izz="0.01"/>  -->
    </inertial>
    <visual>
      <origin rpy="0.0 0.0 0.0" xyz="0.0 0.0 0.0"/>
      <geometry>
        <mesh filename="meshes/simplified/knee.stl" scale="0.001 0.001 0.001"/>
      </geometry>
      <material name="dark_grey"/>
    </visual>
    <collision>
      <origin rpy="0.0 0.0 0.0" xyz="0.0 0.0 0.0"/>
      <geometry>
        <mesh filename="meshes/convex_hull/knee.stl" scale="0.001 0.001 0.001"/>
      </geometry>
    </collision>
  </link>
  <link name="ankle1_3">
    <inertial>
      <origin xyz="0.032137318 9.73572e-05 -0.0044222206"/>
      <mass value="1.2380744"/>
      <!-- org: 3.5, foot un modeled-->
      <inertia ixx="0.0015610452" ixy="3.30597e-05" ixz="-0.0001314174" iyy="0.0037423211" iyz="-2.12589e-05" izz="0.0038312442"/>
      <!--	<inertia ixx="0.01" ixy="0.01" ixz="0.01" iyy="0.01" iyz="0.01" izz="0.01"/>  -->
    </inertial>
    <visual>
      <origin rpy="0.0 0.0 0.0" xyz="0.0 0.0 0.0"/>
      <geometry>
        <mesh filename="meshes/simplified/ankle-pitch.stl" scale="0.001 0.001 0.001"/>
      </geometry>
    </visual>
    <collision>
      <origin rpy="0.0 0.0 0.0" xyz="0.0 0.0 0.0"/>
      <geometry>
        <mesh filename="meshes/convex_hull/ankle-pitch.stl" scale="0.001 0.001 0.001"/>
      </geometry>
    </collision>
  </link>
  <link name="ankle2_3">
    <inertial>
      <origin xyz="0.0004435803 0.0004389911 0.19392092"/>
      <mass value="1.1565926"/>
      <!-- org: 3.5, foot un modeled-->
      <inertia ixx="0.0049019475" ixy="4.3032e-06" ixz="3.46491e-05" iyy="0.0038724162" iyz="1.7099e-05" izz="0.0021783198"/>
    </inertial>
    <visual>
      <origin rpy="0.0 0.0 0.0" xyz="0.0 0.0 0.0"/>
      <geometry>
        <mesh filename="meshes/simplified/ankle-yaw.stl" scale="0.001 0.001 0.001"/>
      </geometry>
      <material name="dark_grey"/>
    </visual>
    <collision>
      <origin rpy="0.0 0.0 0.0" xyz="0.0 0.0 0.0"/>
      <geometry>
        <mesh filename="meshes/convex_hull/ankle-yaw.stl" scale="0.001 0.001 0.001"/>
      </geometry>
    </collision>
  </link>
  <link name="wheel_3">
    <inertial>
      <origin xyz="0.0 0.0 0.0024271906"/>
      <mass value="1.7289003"/>
      <!-- org: 3.5, foot un modeled-->
      <inertia ixx="0.0046864297" ixy="0.0" ixz="0.0" iyy="0.0046713489" iyz="0.0" izz="0.0053126029"/>
    </inertial>
    <visual>
      <origin rpy="0.0 0.0 0.0" xyz="0.0 0.0 0.0"/>
      <geometry>
        <mesh filename="meshes/simplified/wheel.stl" scale="0.001 0.001 0.001"/>
      </geometry>
      <material name="black"/>
    </visual>
    <collision>
      <origin rpy="0.0 0.0 0.0" xyz="0.0 0.0 0.0"/>
      <geometry>
        <mesh filename="meshes/convex_hull/wheel.stl" scale="0.001 0.001 0.001"/>
      </geometry>
    </collision>
  </link>
  <joint name="hip_yaw_3" type="revolute">
    <parent link="pelvis"/>
    <child link="hip1_3"/>
    <origin rpy="3.14159265359 0.0 2.68017653036" xyz="-0.25 0.125 -0.0566"/>
    <axis xyz="0 0 1"/>
    <limit effort="304" lower="-2.51" upper="0.943" velocity="8.8"/>
  </joint>
  <joint name="hip_pitch_3" type="revolute">
    <parent link="hip1_3"/>
    <child link="hip2_3"/>
    <origin rpy="1.57079632679 0.0 2.68017653036" xyz="0.0 0.0 0.0625"/>
    <axis xyz="0 0 1"/>
    <limit effort="304" lower="-2.0126" upper="2.0384" velocity="8.8"/>
  </joint>
  <joint name="knee_pitch_3" type="revolute">
    <parent link="hip2_3"/>
    <child link="knee_3"/>
    <origin rpy="3.14159265359 0.0 1.57079632679" xyz="0.0 0.3 -0.0036"/>
    <axis xyz="0 0 1"/>
    <limit effort="304" lower="-2.4056" upper="2.4064" velocity="8.8"/>
  </joint>
  <joint name="ankle_pitch_3" type="revolute">
    <parent link="knee_3"/>
    <child link="ankle1_3"/>
    <origin rpy="3.14159265359 0.0 0.0" xyz="0.2 0.0 -0.10015"/>
    <axis xyz="0 0 1"/>
    <limit effort="147" lower="-2.4696" upper="2.4464" velocity="8.1"/>
  </joint>
  <joint name="ankle_yaw_3" type="revolute">
    <parent link="ankle1_3"/>
    <child link="ankle2_3"/>
    <origin rpy="1.57079632679 0.0 1.57079632679" xyz="0.0 0.0 0.0"/>
    <axis xyz="0 0 1"/>
    <limit effort="35" lower="-2.5606" upper="2.5454" velocity="20.0"/>
  </joint>
  <joint name="j_wheel_3" type="continuous">
    <parent link="ankle2_3"/>
    <child link="wheel_3"/>
    <origin rpy="1.57079632679 0.0 3.14159265359" xyz="0.0 0.00085 0.23735"/>
    <axis xyz="0 0 -1"/>
    <limit effort="35" velocity="20.0"/>
  </joint>
  <transmission name="t_hip_yaw_3">
    <type> transmission_interface/SimpleTransmission</type>
    <joint name="hip_yaw_3">
      <hardwareInterface>hardware_interface/EffortJointInterface</hardwareInterface>
    </joint>
    <actuator name="motor_hip_yaw_3">
      <hardwareInterface>hardware_interface/EffortJointInterface</hardwareInterface>
      <machanicalReduction>1</machanicalReduction>
    </actuator>
    <robotNamespace>/centauro</robotNamespace>
  </transmission>
  <transmission name="t_hip_pitch_3">
    <type> transmission_interface/SimpleTransmission</type>
    <joint name="hip_pitch_3">
      <hardwareInterface>hardware_interface/EffortJointInterface</hardwareInterface>
    </joint>
    <actuator name="motor_hip_pitch_3">
      <hardwareInterface>hardware_interface/EffortJointInterface</hardwareInterface>
      <machanicalReduction>1</machanicalReduction>
    </actuator>
    <robotNamespace>/centauro</robotNamespace>
  </transmission>
  <transmission name="t_knee_pitch_3">
    <type> transmission_interface/SimpleTransmission</type>
    <joint name="knee_pitch_3">
      <hardwareInterface>hardware_interface/EffortJointInterface</hardwareInterface>
    </joint>
    <actuator name="motor_knee_pitch_3">
      <hardwareInterface>hardware_interface/EffortJointInterface</hardwareInterface>
      <machanicalReduction>1</machanicalReduction>
    </actuator>
    <robotNamespace>/centauro</robotNamespace>
  </transmission>
  <transmission name="t_ankle_pitch_3">
    <type> transmission_interface/SimpleTransmission</type>
    <joint name="ankle_pitch_3">
      <hardwareInterface>hardware_interface/EffortJointInterface</hardwareInterface>
    </joint>
    <actuator name="motor_ankle_pitch_3">
      <hardwareInterface>hardware_interface/EffortJointInterface</hardwareInterface>
      <machanicalReduction>1</machanicalReduction>
    </actuator>
    <robotNamespace>/centauro</robotNamespace>
  </transmission>
  <transmission name="t_ankle_yaw_3">
    <type> transmission_interface/SimpleTransmission</type>
    <joint name="ankle_yaw_3">
      <hardwareInterface>hardware_interface/EffortJointInterface</hardwareInterface>
    </joint>
    <actuator name="motor_ankle_yaw_3">
      <hardwareInterface>hardware_interface/EffortJointInterface</hardwareInterface>
      <machanicalReduction>1</machanicalReduction>
    </actuator>
    <robotNamespace>/centauro</robotNamespace>
  </transmission>
  <transmission name="t_j_wheel_3">
    <type> transmission_interface/SimpleTransmission</type>
    <joint name="j_wheel_3">
      <hardwareInterface>hardware_interface/EffortJointInterface</hardwareInterface>
    </joint>
    <actuator name="motor_j_wheel_3">
      <hardwareInterface>hardware_interface/EffortJointInterface</hardwareInterface>
      <machanicalReduction>1</machanicalReduction>
    </actuator>
    <robotNamespace>/centauro</robotNamespace>
  </transmission>
  <!-- /actuators -->
  <link name="hip1_4">
    <inertial>
      <origin xyz="0.010214199 -0.018348359 0.038090987"/>
      <mass value="1.9194403"/>
      <!-- org: 2 -->
      <inertia ixx="0.0047439572" ixy="0.0005747047" ixz="-0.0003784138" iyy="0.0040551878" iyz="0.0007407508" izz="0.0034146219"/>
      <!-- <inertia ixx="0.01" ixy="0.01" ixz="0.01" iyy="0.01" iyz="0.01" izz="0.01"/> -->
    </inertial>
    <visual>
      <origin rpy="0.0 0.0 4.06442490005" xyz="0.0 0.0 0.0"/>
      <geometry>
        <mesh filename="meshes/simplified/hip-yaw.stl" scale="0.001 0.001 0.001"/>
      </geometry>
      <material name="dark_grey"/>
    </visual>
    <collision>
      <origin rpy="0.0 0.0 4.06442490005" xyz="0.0 0.0 0.0"/>
      <geometry>
        <mesh filename="meshes/convex_hull/hip-yaw.stl" scale="0.001 0.001 0.001"/>
      </geometry>
    </collision>
  </link>
  <link name="hip2_4">
    <inertial>
      <origin xyz="2.57966e-05 0.1810266 0.085669756"/>
      <mass value="2.7264471"/>
      <!-- org: 4.5 -->
      <inertia ixx="0.04851869" ixy="-4.11894e-05" ixz="-1.68778e-05" iyy="0.004242055" iyz="0.0032243188" izz="0.04825583"/>
      <!-- <inertia ixx="0.01" ixy="0.01" ixz="0.01" iyy="0.01" iyz="0.01" izz="0.01"/> -->
    </inertial>
    <visual>
      <origin rpy="0.0 0.0 0.0" xyz="0.0 0.0 0.0"/>
      <geometry>
        <mesh filename="meshes/simplified/hip-pitch.stl" scale="0.001 0.001 0.001"/>
      </geometry>
    </visual>
    <collision>
      <origin rpy="0.0 0.0 0.0" xyz="0.0 0.0 0.0"/>
      <geometry>
        <mesh filename="meshes/convex_hull/hip-pitch.stl" scale="0.001 0.001 0.001"/>
      </geometry>
    </collision>
  </link>
  <link name="knee_4">
    <inertial>
      <origin xyz="0.10881667 0.0001089081 -0.022638996"/>
      <mass value="1.9356754"/>
      <!-- org: 3.5, foot un modeled-->
      <inertia ixx="0.0030534242" ixy="-4.22079e-05" ixz="0.0013679297" iyy="0.019603321" iyz="6.9941e-06" izz="0.019849817"/>
      <!--	<inertia ixx="0.01" ixy="0.01" ixz="0.01" iyy="0.01" iyz="0.01" izz="0.01"/>  -->
    </inertial>
    <visual>
      <origin rpy="0.0 0.0 0.0" xyz="0.0 0.0 0.0"/>
      <geometry>
        <mesh filename="meshes/simplified/knee.stl" scale="0.001 0.001 0.001"/>
      </geometry>
      <material name="dark_grey"/>
    </visual>
    <collision>
      <origin rpy="0.0 0.0 0.0" xyz="0.0 0.0 0.0"/>
      <geometry>
        <mesh filename="meshes/convex_hull/knee.stl" scale="0.001 0.001 0.001"/>
      </geometry>
    </collision>
  </link>
  <link name="ankle1_4">
    <inertial>
      <origin xyz="0.032137318 9.73572e-05 -0.0044222206"/>
      <mass value="1.2380744"/>
      <!-- org: 3.5, foot un modeled-->
      <inertia ixx="0.0015610452" ixy="3.30597e-05" ixz="-0.0001314174" iyy="0.0037423211" iyz="-2.12589e-05" izz="0.0038312442"/>
      <!--	<inertia ixx="0.01" ixy="0.01" ixz="0.01" iyy="0.01" iyz="0.01" izz="0.01"/>  -->
    </inertial>
    <visual>
      <origin rpy="0.0 0.0 0.0" xyz="0.0 0.0 0.0"/>
      <geometry>
        <mesh filename="meshes/simplified/ankle-pitch.stl" scale="0.001 0.001 0.001"/>
      </geometry>
    </visual>
    <collision>
      <origin rpy="0.0 0.0 0.0" xyz="0.0 0.0 0.0"/>
      <geometry>
        <mesh filename="meshes/convex_hull/ankle-pitch.stl" scale="0.001 0.001 0.001"/>
      </geometry>
    </collision>
  </link>
  <link name="ankle2_4">
    <inertial>
      <origin xyz="0.0004435803 0.0004389911 0.19392092"/>
      <mass value="1.1565926"/>
      <!-- org: 3.5, foot un modeled-->
      <inertia ixx="0.0049019475" ixy="4.3032e-06" ixz="3.46491e-05" iyy="0.0038724162" iyz="1.7099e-05" izz="0.0021783198"/>
    </inertial>
    <visual>
      <origin rpy="0.0 0.0 0.0" xyz="0.0 0.0 0.0"/>
      <geometry>
        <mesh filename="meshes/simplified/ankle-yaw.stl" scale="0.001 0.001 0.001"/>
      </geometry>
      <material name="dark_grey"/>
    </visual>
    <collision>
      <origin rpy="0.0 0.0 0.0" xyz="0.0 0.0 0.0"/>
      <geometry>
        <mesh filename="meshes/convex_hull/ankle-yaw.stl" scale="0.001 0.001 0.001"/>
      </geometry>
    </collision>
  </link>
  <link name="wheel_4">
    <inertial>
      <origin xyz="0.0 0.0 0.0024271906"/>
      <mass value="1.7289003"/>
      <!-- org: 3.5, foot un modeled-->
      <inertia ixx="0.0046864297" ixy="0.0" ixz="0.0" iyy="0.0046713489" iyz="0.0" izz="0.0053126029"/>
    </inertial>
    <visual>
      <origin rpy="0.0 0.0 0.0" xyz="0.0 0.0 0.0"/>
      <geometry>
        <mesh filename="meshes/simplified/wheel.stl" scale="0.001 0.001 0.001"/>
      </geometry>
      <material name="black"/>
    </visual>
    <collision>
      <origin rpy="0.0 0.0 0.0" xyz="0.0 0.0 0.0"/>
      <geometry>
        <mesh filename="meshes/convex_hull/wheel.stl" scale="0.001 0.001 0.001"/>
      </geometry>
    </collision>
  </link>
  <joint name="hip_yaw_4" type="revolute">
    <parent link="pelvis"/>
    <child link="hip1_4"/>
    <origin rpy="3.14159265359 0.0 3.60300877682" xyz="-0.25 -0.125 -0.0566"/>
    <axis xyz="0 0 1"/>
    <limit effort="304" lower="-0.9412" upper="2.5138" velocity="8.8"/>
  </joint>
  <joint name="hip_pitch_4" type="revolute">
    <parent link="hip1_4"/>
    <child link="hip2_4"/>
    <origin rpy="1.57079632679 0.0 0.46141612323" xyz="0.0 0.0 0.0625"/>
    <axis xyz="0 0 1"/>
    <limit effort="304" lower="-2.0326" upper="2.0524" velocity="8.8"/>
  </joint>
  <joint name="knee_pitch_4" type="revolute">
    <parent link="hip2_4"/>
    <child link="knee_4"/>
    <origin rpy="3.14159265359 0.0 1.57079632679" xyz="0.0 0.3 -0.0036"/>
    <axis xyz="0 0 1"/>
    <limit effort="304" lower="-2.4176" upper="2.3884" velocity="8.8"/>
  </joint>
  <joint name="ankle_pitch_4" type="revolute">
    <parent link="knee_4"/>
    <child link="ankle1_4"/>
    <origin rpy="3.14159265359 0.0 0.0" xyz="0.2 0.0 -0.10015"/>
    <axis xyz="0 0 1"/>
    <limit effort="147" lower="-2.3426" upper="2.3934" velocity="8.1"/>
  </joint>
  <joint name="ankle_yaw_4" type="revolute">
    <parent link="ankle1_4"/>
    <child link="ankle2_4"/>
    <origin rpy="1.57079632679 0.0 1.57079632679" xyz="0.0 0.0 0.0"/>
    <axis xyz="0 0 1"/>
    <limit effort="35" lower="-2.6046" upper="2.5514" velocity="20.0"/>
  </joint>
  <joint name="j_wheel_4" type="continuous">
    <parent link="ankle2_4"/>
    <child link="wheel_4"/>
    <origin rpy="1.57079632679 0.0 3.14159265359" xyz="0.0 0.00085 0.23735"/>
    <axis xyz="0 0 -1"/>
    <limit effort="35" velocity="20.0"/>
  </joint>
  <transmission name="t_hip_yaw_4">
    <type> transmission_interface/SimpleTransmission</type>
    <joint name="hip_yaw_4">
      <hardwareInterface>hardware_interface/EffortJointInterface</hardwareInterface>
    </joint>
    <actuator name="motor_hip_yaw_4">
      <hardwareInterface>hardware_interface/EffortJointInterface</hardwareInterface>
      <machanicalReduction>1</machanicalReduction>
    </actuator>
    <robotNamespace>/centauro</robotNamespace>
  </transmission>
  <transmission name="t_hip_pitch_4">
    <type> transmission_interface/SimpleTransmission</type>
    <joint name="hip_pitch_4">
      <hardwareInterface>hardware_interface/EffortJointInterface</hardwareInterface>
    </joint>
    <actuator name="motor_hip_pitch_4">
      <hardwareInterface>hardware_interface/EffortJointInterface</hardwareInterface>
      <machanicalReduction>1</machanicalReduction>
    </actuator>
    <robotNamespace>/centauro</robotNamespace>
  </transmission>
  <transmission name="t_knee_pitch_4">
    <type> transmission_interface/SimpleTransmission</type>
    <joint name="knee_pitch_4">
      <hardwareInterface>hardware_interface/EffortJointInterface</hardwareInterface>
    </joint>
    <actuator name="motor_knee_pitch_4">
      <hardwareInterface>hardware_interface/EffortJointInterface</hardwareInterface>
      <machanicalReduction>1</machanicalReduction>
    </actuator>
    <robotNamespace>/centauro</robotNamespace>
  </transmission>
  <transmission name="t_ankle_pitch_4">
    <type> transmission_interface/SimpleTransmission</type>
    <joint name="ankle_pitch_4">
      <hardwareInterface>hardware_interface/EffortJointInterface</hardwareInterface>
    </joint>
    <actuator name="motor_ankle_pitch_4">
      <hardwareInterface>hardware_interface/EffortJointInterface</hardwareInterface>
      <machanicalReduction>1</machanicalReduction>
    </actuator>
    <robotNamespace>/centauro</robotNamespace>
  </transmission>
  <transmission name="t_ankle_yaw_4">
    <type> transmission_interface/SimpleTransmission</type>
    <joint name="ankle_yaw_4">
      <hardwareInterface>hardware_interface/EffortJointInterface</hardwareInterface>
    </joint>
    <actuator name="motor_ankle_yaw_4">
      <hardwareInterface>hardware_interface/EffortJointInterface</hardwareInterface>
      <machanicalReduction>1</machanicalReduction>
    </actuator>
    <robotNamespace>/centauro</robotNamespace>
  </transmission>
  <transmission name="t_j_wheel_4">
    <type> transmission_interface/SimpleTransmission</type>
    <joint name="j_wheel_4">
      <hardwareInterface>hardware_interface/EffortJointInterface</hardwareInterface>
    </joint>
    <actuator name="motor_j_wheel_4">
      <hardwareInterface>hardware_interface/EffortJointInterface</hardwareInterface>
      <machanicalReduction>1</machanicalReduction>
    </actuator>
    <robotNamespace>/centauro</robotNamespace>
  </transmission>
  <!-- /actuators -->
  <!-- /legs -->
</robot>
